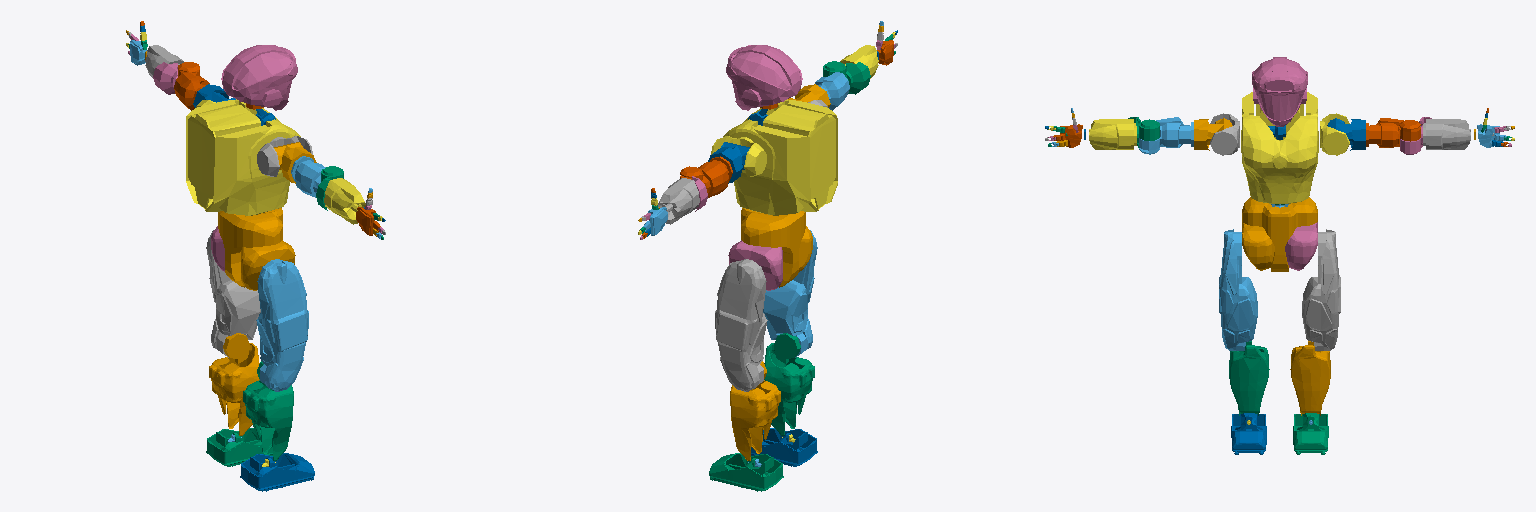
--- Render facts (derived) ---
The picture shows the robot from 3 angles, left to right: view 1: azimuth 30°, elevation 25°; view 2: azimuth 150°, elevation 25°; view 3: azimuth 270°, elevation 25°; orthographic projection.
Robot: valkyrie — 84 links, 83 joints (32 revolute, 1 continuous, 50 fixed); root link pelvis; default pose: every joint at zero.
Links seen in each view (by area): view 1: torso, rightHipPitchLink, upperNeckPitchLink, leftKneePitchLink, leftHipPitchLink, rightKneePitchLink, pelvis, rightFoot, leftFoot, rightHipRollLink, rightForearmLink, leftShoulderYawLink (+5 smaller); view 2: torso, leftHipPitchLink, upperNeckPitchLink, rightKneePitchLink, rightHipPitchLink, leftKneePitchLink, pelvis, leftFoot, rightFoot, leftHipRollLink, leftForearmLink, leftShoulderYawLink (+5 smaller); view 3: torso, rightHipPitchLink, leftHipPitchLink, upperNeckPitchLink, pelvis, rightKneePitchLink, leftKneePitchLink, leftForearmLink, rightForearmLink, rightFoot, leftFoot, leftShoulderYawLink (+7 smaller).
Link boxes in pixels (left/top/right/bottom): torso: left=186, top=99, right=300, bottom=215; rightHipPitchLink: left=256, top=259, right=308, bottom=391; upperNeckPitchLink: left=221, top=45, right=297, bottom=110; leftKneePitchLink: left=209, top=333, right=259, bottom=435; leftHipPitchLink: left=206, top=230, right=260, bottom=357; rightKneePitchLink: left=243, top=361, right=293, bottom=460; pelvis: left=218, top=208, right=282, bottom=287; rightFoot: left=240, top=453, right=314, bottom=491; leftFoot: left=206, top=428, right=272, bottom=466; rightHipRollLink: left=241, top=240, right=295, bottom=290; rightForearmLink: left=324, top=178, right=365, bottom=224; leftShoulderYawLink: left=174, top=62, right=209, bottom=110; torso: left=723, top=99, right=837, bottom=215; leftHipPitchLink: left=715, top=259, right=767, bottom=391; upperNeckPitchLink: left=726, top=45, right=802, bottom=110; rightKneePitchLink: left=764, top=333, right=814, bottom=435; rightHipPitchLink: left=763, top=230, right=817, bottom=357; leftKneePitchLink: left=730, top=361, right=780, bottom=460; pelvis: left=741, top=208, right=805, bottom=287; leftFoot: left=709, top=453, right=783, bottom=491; rightFoot: left=751, top=428, right=817, bottom=466; leftHipRollLink: left=728, top=240, right=782, bottom=290; leftForearmLink: left=658, top=178, right=699, bottom=224; leftShoulderYawLink: left=680, top=156, right=732, bottom=197; torso: left=1241, top=92, right=1318, bottom=203; rightHipPitchLink: left=1219, top=229, right=1257, bottom=350; leftHipPitchLink: left=1302, top=229, right=1340, bottom=350; upperNeckPitchLink: left=1252, top=57, right=1307, bottom=126; pelvis: left=1242, top=197, right=1317, bottom=271; rightKneePitchLink: left=1229, top=341, right=1269, bottom=415; leftKneePitchLink: left=1290, top=341, right=1330, bottom=415; leftForearmLink: left=1423, top=119, right=1470, bottom=149; rightForearmLink: left=1089, top=119, right=1136, bottom=149; rightFoot: left=1231, top=413, right=1266, bottom=454; leftFoot: left=1293, top=413, right=1328, bottom=454; leftShoulderYawLink: left=1366, top=118, right=1420, bottom=147.
Size in the robot's own frame: 0.4375 by 2.09 by 1.88 metres.
60 mesh visuals loaded from 58 distinct referenced files (58 Collada DAE).

robot.urdf — valkyrie:
<?xml version="1.0" ?>
<!-- =================================================================================== -->
<!-- |    This document was autogenerated by xacro from valkyrie_sim.xacro             | -->
<!-- |    EDITING THIS FILE BY HAND IS NOT RECOMMENDED                                 | -->
<!-- =================================================================================== -->
<robot name="valkyrie" xmlns:xacro="http://ros.org/wiki/xacro">
  <!--Yaw-->
  <!--pitch-->
  <!--roll-->
  <!--pitch-->
  <!--roll-->
  <!--Yaw-->
  <!--pitch-->
  <!--roll-->
  <!--pitch-->
  <!--roll-->
  <!--Yaw-->
  <!--pitch-->
  <!--roll-->
  <!--pitch-->
  <!--roll-->
  <!--Yaw-->
  <!--pitch-->
  <!--roll-->
  <!--pitch-->
  <!--roll-->
  <gazebo>
    <plugin filename="libval_gazebo.so" name="SharedMemorySimInterfacePlugin">
      <robotNamespace>/val</robotNamespace>
    </plugin>
  </gazebo>
  <link name="pelvis">
    <inertial>
      <mass value="8.22"/>
      <origin rpy="0 0 0" xyz="-0.00532 -0.003512 -0.0036"/>
      <inertia ixx="0.11866378" ixy="-0.000143482" ixz="0.003271293" iyy="0.097963425" iyz="0.002159545" izz="0.083854638"/>
    </inertial>
    <visual>
      <geometry>
        <mesh filename="model/meshes/pelvis/pelvis.dae"/>
      </geometry>
      <origin rpy="0.0 0.0 0.0" xyz="0.0 0.0 0.0"/>
    </visual>
    <collision>
      <geometry>
        <mesh filename="model/meshes/pelvis/pelvis.dae"/>
      </geometry>
      <origin rpy="0 0 0" xyz="0 0 0"/>
    </collision>
  </link>
  <link name="torsoYawLink">
    <inertial>
      <mass value="0.5"/>
      <origin rpy="0 0 0" xyz="0.000000 0.000000 -0.010000"/>
      <inertia ixx="0.000608427" ixy="-1.172e-06" ixz="1.647e-06" iyy="0.000620328" iyz="-2.33e-07" izz="0.001078108"/>
    </inertial>
    <visual>
      <geometry>
        <mesh filename="model/meshes/torso/torsoyaw.dae"/>
      </geometry>
      <origin rpy="0.0 0.0 0.0" xyz="0.0 0.0 0.0"/>
    </visual>
    <collision>
      <geometry>
        <mesh filename="model/meshes/torso/torsoyaw.dae"/>
      </geometry>
      <origin rpy="0 0 0" xyz="0 0 0"/>
    </collision>
  </link>
  <link name="torsoPitchLink">
    <inertial>
      <mass value="0.1"/>
      <origin rpy="0 0 0" xyz="0.000000 0.000000  0.005000"/>
      <inertia ixx="3.032e-05" ixy="0.0" ixz="-1.145e-06" iyy="2.1274e-05" iyz="0.0" izz="2.8285e-05"/>
    </inertial>
    <visual>
      <geometry>
        <mesh filename="model/meshes/torso/torsopitch.dae"/>
      </geometry>
      <origin rpy="0.0 0.0 0.0" xyz="0.0 0.0 0.0"/>
    </visual>
    <collision>
      <geometry>
        <mesh filename="model/meshes/torso/torsopitch.dae"/>
      </geometry>
      <origin rpy="0 0 0" xyz="0 0 0"/>
    </collision>
  </link>
  <link name="torso">
    <inertial>
      <mass value="39.47"/>
      <origin rpy="0 0 0" xyz="-0.095548 -0.003337 0.243098"/>
      <inertia ixx="0.87326933" ixy="9.9563e-05" ixz="0.061345211" iyy="1.0108485" iyz="0.00181849" izz="0.77839801"/>
    </inertial>
    <visual>
      <geometry>
        <mesh filename="model/meshes/torso/torso.dae"/>
      </geometry>
      <origin rpy="0.0 0.0 0.0" xyz="0.0 0.0 0.0"/>
    </visual>
    <collision>
      <geometry>
        <mesh filename="model/meshes/torso/torso.dae"/>
      </geometry>
      <origin rpy="0 0 0" xyz="0 0 0"/>
    </collision>
  </link>
  <joint name="torsoYaw" type="revolute">
    <origin rpy="0.0 0.0 0.0" xyz="0.0 0.0 0.0"/>
    <axis xyz="0 0 1"/>
    <parent link="pelvis"/>
    <child link="torsoYawLink"/>
    <limit effort="190" lower="-1.329" upper="1.181" velocity="5.89"/>
    <controller_gains Kd="0.0" Ki="0.0" Kp="0.0"/>
    <dynamics damping="0.1" friction="0.0"/>
  </joint>
  <gazebo reference="torsoYaw">
    <provideFeedback>1</provideFeedback>
    <implicitSpringDamper>1</implicitSpringDamper>
  </gazebo>
  <joint name="torsoPitch" type="revolute">
    <origin rpy="0.0 0.0 0.0" xyz="0.04191 0.0 0.0"/>
    <axis xyz="0 1 0"/>
    <parent link="torsoYawLink"/>
    <child link="torsoPitchLink"/>
    <limit effort="150" lower="-0.13" upper="0.666" velocity="9"/>
    <controller_gains Kd="0.0" Ki="0.0" Kp="0.0"/>
    <dynamics damping="0.1" friction="0.0"/>
  </joint>
  <gazebo reference="torsoPitch">
    <provideFeedback>1</provideFeedback>
    <implicitSpringDamper>1</implicitSpringDamper>
  </gazebo>
  <joint name="torsoRoll" type="revolute">
    <origin rpy="0.0 0.0 0.0" xyz="0.0 0.0 0.0203"/>
    <axis xyz="1 0 0"/>
    <parent link="torsoPitchLink"/>
    <child link="torso"/>
    <limit effort="150" lower="-0.23" upper="0.255" velocity="9"/>
    <controller_gains Kd="0.0" Ki="0.0" Kp="0.0"/>
    <dynamics damping="0.1" friction="0.0"/>
  </joint>
  <gazebo reference="torsoRoll">
    <provideFeedback>1</provideFeedback>
    <implicitSpringDamper>1</implicitSpringDamper>
  </gazebo>
  <link name="lowerNeckPitchLink">
    <inertial>
      <mass value="1.05"/>
      <origin rpy="0 0 0" xyz="-0.020000 0.000000  0.040000"/>
      <inertia ixx="0.001470716" ixy="-0.000126021" ixz="0.000632521" iyy="0.001851919" iyz="0.000243012" izz="0.000832117"/>
    </inertial>
    <visual>
      <geometry>
        <mesh filename="model/meshes/head/neckj1.dae"/>
      </geometry>
      <origin rpy="0.0 0.0 0.0" xyz="0.0 0.0 0.0"/>
    </visual>
    <collision>
      <geometry>
        <mesh filename="model/meshes/head/neckj1.dae"/>
      </geometry>
      <origin rpy="0 0 0" xyz="0 0 0"/>
    </collision>
  </link>
  <link name="neckYawLink">
    <inertial>
      <mass value="1.4"/>
      <origin rpy="0 0 0" xyz="-0.030000  -0.010000 0.150000"/>
      <inertia ixx="0.001997698" ixy="-0.000180062" ixz="0.000723677" iyy="0.002919928" iyz="0.000246467" izz="0.002119751"/>
    </inertial>
    <visual>
      <geometry>
        <mesh filename="model/meshes/head/neckj2.dae"/>
      </geometry>
      <origin rpy="0.0 0.0 0.0" xyz="0.0 0.0 0.0"/>
    </visual>
    <collision>
      <geometry>
        <mesh filename="model/meshes/head/neckj2.dae"/>
      </geometry>
      <origin rpy="0 0 0" xyz="0 0 0"/>
    </collision>
  </link>
  <link name="upperNeckPitchLink">
    <inertial>
      <mass value="3.89"/>
      <origin rpy="0 0 0" xyz="0.100912 0.005783 0.034787"/>
      <inertia ixx="0.039847525" ixy="-0.000470418" ixz="-0.002829842" iyy="0.041418564" iyz="-0.000782564" izz="0.036841236"/>
    </inertial>
    <visual>
      <geometry>
        <mesh filename="model/meshes/head/head_multisense.dae"/>
      </geometry>
      <origin rpy="0.0 0.0 0.0" xyz="0.0 0.0 0.0"/>
    </visual>
    <collision>
      <geometry>
        <mesh filename="model/meshes/head/head_multisense.dae"/>
      </geometry>
      <origin rpy="0 0 0" xyz="0 0 0"/>
    </collision>
  </link>
  <joint name="lowerNeckPitch" type="revolute">
    <origin rpy="0.0 0.0 0.0" xyz="0.0203518 0.0 0.33845"/>
    <axis xyz="0 1 0"/>
    <parent link="torso"/>
    <child link="lowerNeckPitchLink"/>
    <limit effort="26" lower="0" upper="1.162" velocity="5"/>
    <controller_gains Kd="400" Ki="0.0" Kp="400"/>
    <dynamics damping="0.1" friction="0.0"/>
  </joint>
  <gazebo reference="lowerNeckPitch">
    <provideFeedback>1</provideFeedback>
    <implicitSpringDamper>1</implicitSpringDamper>
  </gazebo>
  <joint name="neckYaw" type="revolute">
    <origin rpy="0.0 0.0 0.0" xyz="-0.051924 0.0 0.0"/>
    <axis xyz="0 0 1"/>
    <parent link="lowerNeckPitchLink"/>
    <child link="neckYawLink"/>
    <limit effort="26" lower="-1.04719755" upper="1.04719755" velocity="5"/>
    <controller_gains Kd="400" Ki="0.0" Kp="400"/>
    <dynamics damping="0.1" friction="0.0"/>
  </joint>
  <gazebo reference="neckYaw">
    <provideFeedback>1</provideFeedback>
    <implicitSpringDamper>1</implicitSpringDamper>
  </gazebo>
  <joint name="upperNeckPitch" type="revolute">
    <origin rpy="0.0 0.0 0.0" xyz="-0.06 0 0.195997"/>
    <axis xyz="0 1 0"/>
    <parent link="neckYawLink"/>
    <child link="upperNeckPitchLink"/>
    <limit effort="26" lower="-0.872" upper="0.0" velocity="5"/>
    <controller_gains Kd="400" Ki="0.0" Kp="400"/>
    <dynamics damping="0.1" friction="0.0"/>
  </joint>
  <gazebo reference="upperNeckPitch">
    <provideFeedback>1</provideFeedback>
    <implicitSpringDamper>1</implicitSpringDamper>
  </gazebo>
  <link name="rightShoulderPitchLink">
    <inertial>
      <mass value="2.65"/>
      <origin rpy="0 0 0" xyz="0.012 -0.251 0.000000"/>
      <inertia ixx="0.013718167" ixy="0.0" ixz="0.0" iyy="0.010502833" iyz="0.0" izz="0.014806433"/>
    </inertial>
    <visual>
      <geometry>
        <mesh filename="model/meshes/arms/aj1_right.dae"/>
      </geometry>
      <origin rpy="0.0 0.0 0.0" xyz="0.0 0.0 0.0"/>
    </visual>
    <collision>
      <geometry>
        <mesh filename="model/meshes/arms/aj1_right.dae"/>
      </geometry>
      <origin rpy="0 0 0" xyz="0 0 0"/>
    </collision>
  </link>
  <link name="rightShoulderRollLink">
    <inertial>
      <mass value="3.97"/>
      <origin rpy="0 0 0" xyz="0.008513 -0.02068 -0.001088"/>
      <inertia ixx="0.014598842" ixy="-0.00066764" ixz="3.629e-05" iyy="0.006452136" iyz="8.283e-05" izz="0.016848319"/>
    </inertial>
    <visual>
      <geometry>
        <mesh filename="model/meshes/arms/aj2_right.dae"/>
      </geometry>
      <origin rpy="0.0 0.0 0.0" xyz="0.0 0.0 0.0"/>
    </visual>
    <collision>
      <geometry>
        <mesh filename="model/meshes/arms/aj2_right.dae"/>
      </geometry>
      <origin rpy="0 0 0" xyz="0 0 0"/>
    </collision>
  </link>
  <link name="rightShoulderYawLink">
    <inertial>
      <mass value="3.085"/>
      <origin rpy="0 0 0" xyz="-0.004304 -0.209832 -0.007295"/>
      <inertia ixx="0.039355177" ixy="0.007827077" ixz="0.000753947" iyy="0.004905765" iyz="-0.002723873" izz="0.041879481"/>
    </inertial>
    <visual>
      <geometry>
        <mesh filename="model/meshes/arms/aj3_right.dae"/>
      </geometry>
      <origin rpy="0.0 0.0 0.0" xyz="0.0 0.0 0.0"/>
    </visual>
    <collision>
      <geometry>
        <mesh filename="model/meshes/arms/aj3_right.dae"/>
      </geometry>
      <origin rpy="0 0 0" xyz="0 0 0"/>
    </collision>
  </link>
  <link name="rightElbowPitchLink">
    <inertial>
      <mass value="1.83"/>
      <origin rpy="0 0 0" xyz="-0.020344 -0.014722 -0.0223"/>
      <inertia ixx="0.003314516" ixy="-0.000535099" ixz="-0.000728077" iyy="0.003505669" iyz="-0.000423865" izz="0.003011283"/>
    </inertial>
    <visual>
      <geometry>
        <mesh filename="model/meshes/arms/aj4_right.dae"/>
      </geometry>
      <origin rpy="0.0 0.0 0.0" xyz="0.0 0.0 0.0"/>
    </visual>
    <collision>
      <geometry>
        <mesh filename="model/meshes/arms/aj4_right.dae"/>
      </geometry>
      <origin rpy="0 0 0" xyz="0 0 0"/>
    </collision>
  </link>
  <joint name="rightShoulderPitch" type="revolute">
    <origin rpy="0.0 0.0 0.0" xyz="-0.0316 0.0 0.2984"/>
    <axis xyz="0 1 0"/>
    <parent link="torso"/>
    <child link="rightShoulderPitchLink"/>
    <limit effort="190" lower="-2.85" upper="2.0" velocity="5.89"/>
    <controller_gains Kd="0.0" Ki="0.0" Kp="0.0"/>
    <dynamics damping="0.1" friction="0.0"/>
  </joint>
  <gazebo reference="rightShoulderPitch">
    <provideFeedback>1</provideFeedback>
    <implicitSpringDamper>1</implicitSpringDamper>
  </gazebo>
  <joint name="rightShoulderRoll" type="revolute">
    <origin rpy="0.0 0.0 0.0" xyz="0.0 -0.2499 0.0"/>
    <axis xyz="1 0 0"/>
    <parent link="rightShoulderPitchLink"/>
    <child link="rightShoulderRollLink"/>
    <limit effort="190" lower="-1.266" upper="1.519" velocity="5.89"/>
    <controller_gains Kd="0.0" Ki="0.0" Kp="0.0"/>
    <dynamics damping="0.1" friction="0.0"/>
  </joint>
  <gazebo reference="rightShoulderRoll">
    <provideFeedback>1</provideFeedback>
    <implicitSpringDamper>1</implicitSpringDamper>
  </gazebo>
  <joint name="rightShoulderYaw" type="revolute">
    <origin rpy="0.0 0.0 0.0" xyz="0.0 0.0 0.0"/>
    <axis xyz="0 1 0"/>
    <parent link="rightShoulderRollLink"/>
    <child link="rightShoulderYawLink"/>
    <limit effort="65" lower="-3.1" upper="2.18" velocity="11.5"/>
    <controller_gains Kd="0.0" Ki="0.0" Kp="0.0"/>
    <dynamics damping="0.1" friction="0.0"/>
  </joint>
  <gazebo reference="rightShoulderYaw">
    <provideFeedback>1</provideFeedback>
    <implicitSpringDamper>1</implicitSpringDamper>
  </gazebo>
  <joint name="rightElbowPitch" type="revolute">
    <origin rpy="0.0 0.0 0.0" xyz="0.0254 -0.33 0.0"/>
    <axis xyz="0 0 1"/>
    <parent link="rightShoulderYawLink"/>
    <child link="rightElbowPitchLink"/>
    <limit effort="65" lower="-0.12" upper="2.174" velocity="11.5"/>
    <controller_gains Kd="0.0" Ki="0.0" Kp="0.0"/>
    <dynamics damping="0.1" friction="0.0"/>
  </joint>
  <gazebo reference="rightElbowPitch">
    <provideFeedback>1</provideFeedback>
    <implicitSpringDamper>1</implicitSpringDamper>
  </gazebo>
  <link name="rightForearmLink">
    <inertial>
      <mass value="2.476"/>
      <origin rpy="0 0 0" xyz="0.015000 -0.13 0.019564"/>
      <inertia ixx="0.01175543" ixy="-0.001300853" ixz="-0.000727141" iyy="0.005071567" iyz="-0.001695416" izz="0.011365657"/>
    </inertial>
    <visual>
      <geometry>
        <mesh filename="model/meshes/arms/aj5_right.dae"/>
      </geometry>
      <origin rpy="0.0 0.0 0.0" xyz="0.0 0.0 0.0"/>
    </visual>
    <collision>
      <geometry>
        <mesh filename="model/meshes/arms/aj5_right.dae"/>
      </geometry>
      <origin rpy="0 0 0" xyz="0 0 0"/>
    </collision>
  </link>
  <link name="rightWristRollLink">
    <inertial>
      <mass value="0.14"/>
      <origin rpy="0 0 0" xyz="0 -0.0 0"/>
      <inertia ixx="3.0251e-05" ixy="-1.25e-07" ixz="-3.6e-08" iyy="3.772e-05" iyz="0.0" izz="9.395e-06"/>
    </inertial>
    <visual>
      <geometry>
        <mesh filename="model/meshes/arms/aj6_right.dae"/>
      </geometry>
      <origin rpy="0.0 0.0 0.0" xyz="0.0 0.0 0.0"/>
    </visual>
    <collision>
      <geometry>
        <mesh filename="model/meshes/arms/aj6_right.dae"/>
      </geometry>
      <origin rpy="0 0 0" xyz="0 0 0"/>
    </collision>
  </link>
  <link name="rightPalm">
    <inertial>
      <mass value="0.712"/>
      <origin rpy="0 0 0" xyz="0.002954 -0.052034 -0.000236"/>
      <inertia ixx="0.000943493" ixy="3.4393e-05" ixz="-3.8828e-05" iyy="0.000711024" iyz="2.3429e-05" izz="0.000610199"/>
    </inertial>
    <visual>
      <geometry>
        <mesh filename="model/meshes/arms/palm_right.dae"/>
      </geometry>
      <origin rpy="0.0 0.0 0.0" xyz="0.0 0.0 0.0"/>
    </visual>
    <collision>
      <geometry>
        <mesh filename="model/meshes/arms/palm_right.dae"/>
      </geometry>
      <origin rpy="0 0 0" xyz="0 0 0"/>
    </collision>
  </link>
  <joint name="rightForearmYaw" type="revolute">
    <origin rpy="0.0 0.0 0.0" xyz="-0.0254 0 0"/>
    <axis xyz="0 1 0"/>
    <parent link="rightElbowPitchLink"/>
    <child link="rightForearmLink"/>
    <limit effort="26" lower="-2.019" upper="3.14" velocity="5"/>
    <controller_gains Kd="0" Ki="0.0" Kp="0.0"/>
    <dynamics damping="0.1" friction="0.0"/>
  </joint>
  <gazebo reference="rightForearmYaw">
    <provideFeedback>1</provideFeedback>
    <implicitSpringDamper>1</implicitSpringDamper>
  </gazebo>
  <joint name="rightWristRoll" type="revolute">
    <origin rpy="0.0 0.0 0.0" xyz="0.0 -0.2871 0.0"/>
    <axis xyz="1 0 0"/>
    <parent link="rightForearmLink"/>
    <child link="rightWristRollLink"/>
    <limit effort="14" lower="-0.625" upper="0.62" velocity="1"/>
    <controller_gains Kd="400" Ki="0.0" Kp="20000"/>
    <dynamics damping="0.1" friction="0.0"/>
  </joint>
  <gazebo reference="rightWristRoll">
    <provideFeedback>1</provideFeedback>
    <implicitSpringDamper>1</implicitSpringDamper>
  </gazebo>
  <joint name="rightWristPitch" type="revolute">
    <origin rpy="0.0 0.0 0.0" xyz="0.0 0.0 0.0"/>
    <axis xyz="0 0 1"/>
    <parent link="rightWristRollLink"/>
    <child link="rightPalm"/>
    <limit effort="14" lower="-0.49" upper="0.36" velocity="1"/>
    <controller_gains Kd="400" Ki="0.0" Kp="20000"/>
    <dynamics damping="0.1" friction="0.0"/>
  </joint>
  <gazebo reference="rightWristPitch">
    <provideFeedback>1</provideFeedback>
    <implicitSpringDamper>1</implicitSpringDamper>
  </gazebo>
  <link name="rightThumbRollLink">
    <inertial>
      <mass value="0.017"/>
      <origin rpy="0 0 0" xyz="0 -0.0 0.01"/>
      <inertia ixx="2.7778767e-06" ixy="5.6718533e-09" ixz="-9.5523207e-08" iyy="3.5462642e-06" iyz="3.663718e-08" izz="1.3553297e-06"/>
    </inertial>
    <visual>
      <geometry>
        <mesh filename="model/meshes/fingers/thumbj1_right.dae"/>
      </geometry>
      <origin rpy="0.0 0.0 0.0" xyz="0.0 0.0 0.0"/>
    </visual>
    <collision>
      <geometry>
        <mesh filename="model/meshes/fingers/thumbj1_right.dae"/>
      </geometry>
      <origin rpy="0 0 0" xyz="0 0 0"/>
    </collision>
  </link>
  <link name="rightThumbPitch1Link">
    <inertial>
      <mass value="0.02"/>
      <origin rpy="0 0 0" xyz="0.0 -0.005 0.02"/>
      <inertia ixx="4.239e-06" ixy="0.0" ixz="-0.0" iyy="4.582e-06" iyz="0.0" izz="1.47e-06"/>
    </inertial>
    <visual>
      <geometry>
        <mesh filename="model/meshes/fingers/thumbj2_right.dae"/>
      </geometry>
      <origin rpy="0.0 0.0 0.0" xyz="0.0 0.0 0.0"/>
    </visual>
    <collision>
      <geometry>
        <mesh filename="model/meshes/fingers/thumbj2_right.dae"/>
      </geometry>
      <origin rpy="0 0 0" xyz="0 0 0"/>
    </collision>
  </link>
  <link name="rightThumbPitch2Link">
    <inertial>
      <mass value="0.013"/>
      <origin rpy="0 0 0" xyz="0 -0.004 0.017"/>
      <inertia ixx="1.266e-06" ixy="0.0" ixz="-0.0" iyy="1.503e-06" iyz="-0.0" izz="6.99e-07"/>
    </inertial>
    <visual>
      <geometry>
        <mesh filename="model/meshes/fingers/thumbj3_right.dae"/>
      </geometry>
      <origin rpy="0.0 0.0 0.0" xyz="0.0 0.0 0.0"/>
    </visual>
    <collision>
      <geometry>
        <mesh filename="model/meshes/fingers/thumbj3_right.dae"/>
      </geometry>
      <origin rpy="0 0 0" xyz="0 0 0"/>
    </collision>
  </link>
  <link name="rightThumbPitch3Link">
    <inertial>
      <mass value="0.006"/>
      <origin rpy="0 0 0" xyz="0 -0.004 0.01"/>
      <inertia ixx="3.22e-07" ixy="0.0" ixz="0.0" iyy="4.06e-07" iyz="0.0" izz="2.1e-07"/>
    </inertial>
    <visual>
      <geometry>
        <mesh filename="model/meshes/fingers/thumbj4_right.dae"/>
      </geometry>
      <origin rpy="0.0 0.0 0.0" xyz="0.0 0.0 0.0"/>
    </visual>
    <collision>
      <geometry>
        <mesh filename="model/meshes/fingers/thumbj4_right.dae"/>
      </geometry>
      <origin rpy="0 0 0" xyz="0 0 0"/>
    </collision>
  </link>
  <joint name="rightThumbRoll" type="fixed">
    <origin rpy="0.3491 0.0 0.0" xyz="0.0049 -0.0351 0.0228"/>
    <axis xyz="0 0 1"/>
    <parent link="rightPalm"/>
    <child link="rightThumbRollLink"/>
  </joint>
  <gazebo reference="rightThumbRoll">
    <implicitSpringDamper>1</implicitSpringDamper>
  </gazebo>
  <joint name="rightThumbPitch1" type="fixed">
    <origin rpy="-0.3491 0.0 0.0" xyz="0.0 0.0 0.0229"/>
    <axis xyz="0 0 1"/>
    <parent link="rightThumbRollLink"/>
    <child link="rightThumbPitch1Link"/>
  </joint>
  <gazebo reference="rightThumbPitch1">
    <implicitSpringDamper>1</implicitSpringDamper>
  </gazebo>
  <joint name="rightThumbPitch2" type="fixed">
    <origin rpy="0.0 0.0 0.0" xyz="0.0 -0.0066 0.0375"/>
    <axis xyz="0 0 1"/>
    <parent link="rightThumbPitch1Link"/>
    <child link="rightThumbPitch2Link"/>
  </joint>
  <gazebo reference="rightThumbPitch2">
    <implicitSpringDamper>1</implicitSpringDamper>
  </gazebo>
  <joint name="rightThumbPitch3" type="fixed">
    <origin rpy="0.0 0.0 0.0" xyz="0.0 -0.0049 0.0275"/>
    <axis xyz="0 0 1"/>
    <parent link="rightThumbPitch2Link"/>
    <child link="rightThumbPitch3Link"/>
  </joint>
  <gazebo reference="rightThumbPitch3">
    <implicitSpringDamper>1</implicitSpringDamper>
  </gazebo>
  <link name="rightIndexFingerPitch1Link">
    <inertial>
      <mass value="0.02"/>
      <origin rpy="0 0 0" xyz="0 -0.02 0"/>
      <inertia ixx="4.232e-06" ixy="-6e-08" ixz="-8e-09" iyy="1.215e-06" iyz="-7e-09" izz="3.892e-06"/>
    </inertial>
    <visual>
      <geometry>
        <mesh filename="model/meshes/fingers/indexj1_right.dae"/>
      </geometry>
      <origin rpy="0.0 0.0 0.0" xyz="0.0 0.0 0.0"/>
    </visual>
    <collision>
      <geometry>
        <mesh filename="model/meshes/fingers/indexj1_right.dae"/>
      </geometry>
      <origin rpy="0 0 0" xyz="0 0 0"/>
    </collision>
  </link>
  <link name="rightIndexFingerPitch2Link">
    <inertial>
      <mass value="0.018"/>
      <origin rpy="0 0 0" xyz="0 -0.013 0"/>
      <inertia ixx="1.562e-06" ixy="-1.7e-08" ixz="-1.3e-08" iyy="7.22e-07" iyz="3.1e-08" izz="1.255e-06"/>
    </inertial>
    <visual>
      <geometry>
        <mesh filename="model/meshes/fingers/indexj2_right.dae"/>
      </geometry>
      <origin rpy="0.0 0.0 0.0" xyz="0.0 0.0 0.0"/>
    </visual>
    <collision>
      <geometry>
        <mesh filename="model/meshes/fingers/indexj2_right.dae"/>
      </geometry>
      <origin rpy="0 0 0" xyz="0 0 0"/>
    </collision>
  </link>
  <link name="rightIndexFingerPitch3Link">
    <inertial>
      <mass value="0.01"/>
      <origin rpy="0 0 0" xyz="0 -0.01 0"/>
      <inertia ixx="6.02e-07" ixy="-2.4e-08" ixz="0.0" iyy="2.09e-07" iyz="1.7e-08" izz="5.02e-07"/>
    </inertial>
    <visual>
      <geometry>
        <mesh filename="model/meshes/fingers/indexj3_right.dae"/>
      </geometry>
      <origin rpy="0.0 0.0 0.0" xyz="0.0 0.0 0.0"/>
    </visual>
    <collision>
      <geometry>
        <mesh filename="model/meshes/fingers/indexj3_right.dae"/>
      </geometry>
      <origin rpy="0 0 0" xyz="0 0 0"/>
    </collision>
  </link>
  <joint name="rightIndexFingerPitch1" type="fixed">
    <origin rpy="-0.1745 0.0 0.0" xyz="0.0022 -0.0976 0.0235"/>
    <axis xyz="0 0 1"/>
    <parent link="rightPalm"/>
    <child link="rightIndexFingerPitch1Link"/>
  </joint>
  <gazebo reference="rightIndexFingerPitch1">
    <implicitSpringDamper>1</implicitSpringDamper>
  </gazebo>
  <joint name="rightIndexFingerPitch2" type="fixed">
    <origin rpy="0.0 0.0 0.0" xyz="0.0 -0.0381 0.0"/>
    <axis xyz="0 0 1"/>
    <parent link="rightIndexFingerPitch1Link"/>
    <child link="rightIndexFingerPitch2Link"/>
  </joint>
  <gazebo reference="rightIndexFingerPitch2">
    <implicitSpringDamper>1</implicitSpringDamper>
  </gazebo>
  <joint name="rightIndexFingerPitch3" type="fixed">
    <origin rpy="0.0 0.0 0.0" xyz="0.0 -0.0229 0"/>
    <axis xyz="0 0 1"/>
    <parent link="rightIndexFingerPitch2Link"/>
    <child link="rightIndexFingerPitch3Link"/>
  </joint>
  <gazebo reference="rightIndexFingerPitch3">
    <implicitSpringDamper>1</implicitSpringDamper>
  </gazebo>
  <link name="rightMiddleFingerPitch1Link">
    <inertial>
      <mass value="0.02"/>
      <origin rpy="0 0 0" xyz="0 -0.02 0"/>
      <inertia ixx="5.148e-06" ixy="-4.2e-08" ixz="-1.1e-08" iyy="1.322e-06" iyz="-4e-09" izz="4.592e-06"/>
    </inertial>
    <visual>
      <geometry>
        <mesh filename="model/meshes/fingers/middlej1_right.dae"/>
      </geometry>
      <origin rpy="0.0 0.0 0.0" xyz="0.0 0.0 0.0"/>
    </visual>
    <collision>
      <geometry>
        <mesh filename="model/meshes/fingers/middlej1_right.dae"/>
      </geometry>
      <origin rpy="0 0 0" xyz="0 0 0"/>
    </collision>
  </link>
  <link name="rightMiddleFingerPitch2Link">
    <inertial>
      <mass value="0.011"/>
      <origin rpy="0 0 0" xyz="0 -0.013 0"/>
      <inertia ixx="1.97e-06" ixy="3.4e-08" ixz="-1.1e-08" iyy="5.54e-07" iyz="-7.8e-08" izz="2.272e-06"/>
    </inertial>
    <visual>
      <geometry>
        <mesh filename="model/meshes/fingers/middlej2_right.dae"/>
      </geometry>
      <origin rpy="0.0 0.0 0.0" xyz="0.0 0.0 0.0"/>
    </visual>
    <collision>
      <geometry>
        <mesh filename="model/meshes/fingers/middlej2_right.dae"/>
      </geometry>
      <origin rpy="0 0 0" xyz="0 0 0"/>
    </collision>
  </link>
  <link name="rightMiddleFingerPitch3Link">
    <inertial>
      <mass value="0.006"/>
      <origin rpy="0 0 0" xyz="0 -0.01 0"/>
      <inertia ixx="3.96e-07" ixy="-9e-09" ixz="-1e-09" iyy="1.6e-07" iyz="1.6e-08" izz="3.03e-07"/>
    </inertial>
    <visual>
      <geometry>
        <mesh filename="model/meshes/fingers/middlej3_right.dae"/>
      </geometry>
      <origin rpy="0.0 0.0 0.0" xyz="0.0 0.0 0.0"/>
    </visual>
    <collision>
      <geometry>
        <mesh filename="model/meshes/fingers/middlej3_right.dae"/>
      </geometry>
      <origin rpy="0 0 0" xyz="0 0 0"/>
    </collision>
  </link>
  <joint name="rightMiddleFingerPitch1" type="fixed">
    <origin rpy="0.1222 0.0 0.0" xyz="0.0022 -0.097 -0.0119"/>
    <axis xyz="0 0 1"/>
    <parent link="rightPalm"/>
    <child link="rightMiddleFingerPitch1Link"/>
  </joint>
  <gazebo reference="rightMiddleFingerPitch1">
    <implicitSpringDamper>1</implicitSpringDamper>
  </gazebo>
  <joint name="rightMiddleFingerPitch2" type="fixed">
    <origin rpy="0.0 0.0 0.0" xyz="0.0 -0.0381 0.0"/>
    <axis xyz="0 0 1"/>
    <parent link="rightMiddleFingerPitch1Link"/>
    <child link="rightMiddleFingerPitch2Link"/>
  </joint>
  <gazebo reference="rightMiddleFingerPitch2">
    <implicitSpringDamper>1</implicitSpringDamper>
  </gazebo>
  <joint name="rightMiddleFingerPitch3" type="fixed">
    <origin rpy="0.0 0.0 0.0" xyz="0.0 -0.0229 0.0"/>
    <axis xyz="0 0 1"/>
    <parent link="rightMiddleFingerPitch2Link"/>
    <child link="rightMiddleFingerPitch3Link"/>
  </joint>
  <gazebo reference="rightMiddleFingerPitch3">
    <implicitSpringDamper>1</implicitSpringDamper>
  </gazebo>
  <link name="rightPinkyPitch1Link">
    <inertial>
      <mass value="0.02"/>
      <origin rpy="0 0 0" xyz="0 -0.02 0"/>
      <inertia ixx="5.148e-06" ixy="-4.2e-08" ixz="-1.1e-08" iyy="1.322e-06" iyz="-4e-09" izz="4.592e-06"/>
    </inertial>
    <visual>
      <geometry>
        <mesh filename="model/meshes/fingers/pinkyj1_right.dae"/>
      </geometry>
      <origin rpy="0.0 0.0 0.0" xyz="0.0 0.0 0.0"/>
    </visual>
    <collision>
      <geometry>
        <mesh filename="model/meshes/fingers/pinkyj1_right.dae"/>
      </geometry>
      <origin rpy="0 0 0" xyz="0 0 0"/>
    </collision>
  </link>
  <link name="rightPinkyPitch2Link">
    <inertial>
      <mass value="0.011"/>
      <origin rpy="0 0 0" xyz="0 -0.013 0"/>
      <inertia ixx="1.97e-06" ixy="3.4e-08" ixz="-1.1e-08" iyy="5.54e-07" iyz="-7.8e-08" izz="2.272e-06"/>
    </inertial>
    <visual>
      <geometry>
        <mesh filename="model/meshes/fingers/pinkyj2_right.dae"/>
      </geometry>
      <origin rpy="0.0 0.0 0.0" xyz="0.0 0.0 0.0"/>
    </visual>
    <collision>
      <geometry>
        <mesh filename="model/meshes/fingers/pinkyj2_right.dae"/>
      </geometry>
      <origin rpy="0 0 0" xyz="0 0 0"/>
    </collision>
  </link>
  <link name="rightPinkyPitch3Link">
    <inertial>
      <mass value="0.006"/>
      <origin rpy="0 0 0" xyz="0 -0.01 0"/>
      <inertia ixx="3.96e-07" ixy="-9e-09" ixz="-1e-09" iyy="1.6e-07" iyz="1.6e-08" izz="3.03e-07"/>
    </inertial>
    <visual>
      <geometry>
        <mesh filename="model/meshes/fingers/pinkyj3_right.dae"/>
      </geometry>
      <origin rpy="0.0 0.0 0.0" xyz="0.0 0.0 0.0"/>
    </visual>
    <collision>
      <geometry>
        <mesh filename="model/meshes/fingers/pinkyj3_right.dae"/>
      </geometry>
      <origin rpy="0 0 0" xyz="0 0 0"/>
    </collision>
  </link>
  <joint name="rightPinkyPitch1" type="fixed">
    <origin rpy="0.1222 0.0 0.0" xyz="0.0022 -0.0838 -0.041"/>
    <axis xyz="0 0 1"/>
    <parent link="rightPalm"/>
    <child link="rightPinkyPitch1Link"/>
  </joint>
  <gazebo reference="rightPinkyPitch1">
    <implicitSpringDamper>1</implicitSpringDamper>
  </gazebo>
  <joint name="rightPinkyPitch2" type="fixed">
    <origin rpy="0.0 0.0 0.0" xyz="0.0 -0.0381 0.0"/>
    <axis xyz="0 0 1"/>
    <parent link="rightPinkyPitch1Link"/>
    <child link="rightPinkyPitch2Link"/>
  </joint>
  <gazebo reference="rightPinkyPitch2">
    <implicitSpringDamper>1</implicitSpringDamper>
  </gazebo>
  <joint name="rightPinkyPitch3" type="fixed">
    <origin rpy="0.0 0.0 0.0" xyz="0.0 -0.0229 0.0"/>
    <axis xyz="0 0 1"/>
    <parent link="rightPinkyPitch2Link"/>
    <child link="rightPinkyPitch3Link"/>
  </joint>
  <gazebo reference="rightPinkyPitch3">
    <implicitSpringDamper>1</implicitSpringDamper>
  </gazebo>
  <link name="leftShoulderPitchLink">
    <inertial>
      <mass value="2.65"/>
      <origin rpy="0 0 0" xyz="-0.012 0.251 0.000000"/>
      <inertia ixx="0.013718167" ixy="0.0" ixz="0.0" iyy="0.010502833" iyz="0.0" izz="0.014806433"/>
    </inertial>
    <visual>
      <geometry>
        <mesh filename="model/meshes/arms/aj1_left.dae"/>
      </geometry>
      <origin rpy="0.0 0.0 0.0" xyz="0.0 0.0 0.0"/>
    </visual>
    <collision>
      <geometry>
        <mesh filename="model/meshes/arms/aj1_left.dae"/>
      </geometry>
      <origin rpy="0 0 0" xyz="0 0 0"/>
    </collision>
  </link>
  <link name="leftShoulderRollLink">
    <inertial>
      <mass value="3.97"/>
      <origin rpy="0 0 0" xyz="-0.008513 0.02068 -0.001088"/>
      <inertia ixx="0.014598842" ixy="-0.00066764" ixz="-3.629e-05" iyy="0.006452136" iyz="-8.283e-05" izz="0.016848319"/>
    </inertial>
    <visual>
      <geometry>
        <mesh filename="model/meshes/arms/aj2_left.dae"/>
      </geometry>
      <origin rpy="0.0 0.0 0.0" xyz="0.0 0.0 0.0"/>
    </visual>
    <collision>
      <geometry>
        <mesh filename="model/meshes/arms/aj2_left.dae"/>
      </geometry>
      <origin rpy="0 0 0" xyz="0 0 0"/>
    </collision>
  </link>
  <link name="leftShoulderYawLink">
    <inertial>
      <mass value="3.085"/>
      <origin rpy="0 0 0" xyz="-0.004304 0.209832 0.007295"/>
      <inertia ixx="0.039355177" ixy="-0.007827077" ixz="-0.000753947" iyy="0.004905765" iyz="0.002723873" izz="0.041879481"/>
    </inertial>
    <visual>
      <geometry>
        <mesh filename="model/meshes/arms/aj3_left.dae"/>
      </geometry>
      <origin rpy="0.0 0.0 0.0" xyz="0.0 0.0 0.0"/>
    </visual>
    <collision>
      <geometry>
        <mesh filename="model/meshes/arms/aj3_left.dae"/>
      </geometry>
      <origin rpy="0 0 0" xyz="0 0 0"/>
    </collision>
  </link>
  <link name="leftElbowPitchLink">
    <inertial>
      <mass value="1.83"/>
      <origin rpy="0 0 0" xyz="-0.020344 0.014722 0.0223"/>
      <inertia ixx="0.003314516" ixy="0.000535099" ixz="0.000728077" iyy="0.003505669" iyz="-0.000423865" izz="0.003011283"/>
    </inertial>
    <visual>
      <geometry>
        <mesh filename="model/meshes/arms/aj4_left.dae"/>
      </geometry>
      <origin rpy="0.0 0.0 0.0" xyz="0.0 0.0 0.0"/>
    </visual>
    <collision>
      <geometry>
        <mesh filename="model/meshes/arms/aj4_left.dae"/>
      </geometry>
      <origin rpy="0 0 0" xyz="0 0 0"/>
    </collision>
  </link>
  <joint name="leftShoulderPitch" type="revolute">
    <origin rpy="0.0 0.0 0.0" xyz="-0.0316 0.0 0.2984"/>
    <axis xyz="0 1 0"/>
    <parent link="torso"/>
    <child link="leftShoulderPitchLink"/>
    <limit effort="190" lower="-2.85" upper="2.0" velocity="5.89"/>
    <controller_gains Kd="0.0" Ki="0.0" Kp="0.0"/>
    <dynamics damping="0.1" friction="0.0"/>
  </joint>
  <gazebo reference="leftShoulderPitch">
    <provideFeedback>1</provideFeedback>
    <implicitSpringDamper>1</implicitSpringDamper>
  </gazebo>
  <joint name="leftShoulderRoll" type="revolute">
    <origin rpy="0.0 0.0 0.0" xyz="0.0 0.2499 0.0"/>
    <axis xyz="1 0 0"/>
    <parent link="leftShoulderPitchLink"/>
    <child link="leftShoulderRollLink"/>
    <limit effort="190" lower="-1.519" upper="1.266" velocity="5.89"/>
    <controller_gains Kd="0.0" Ki="0.0" Kp="0.0"/>
    <dynamics damping="0.1" friction="0.0"/>
  </joint>
  <gazebo reference="leftShoulderRoll">
    <provideFeedback>1</provideFeedback>
    <implicitSpringDamper>1</implicitSpringDamper>
  </gazebo>
  <joint name="leftShoulderYaw" type="revolute">
    <origin rpy="0.0 0.0 0.0" xyz="0.0 0.0 0.0"/>
    <axis xyz="0 1 0"/>
    <parent link="leftShoulderRollLink"/>
    <child link="leftShoulderYawLink"/>
    <limit effort="65" lower="-3.1" upper="2.18" velocity="11.5"/>
    <controller_gains Kd="0.0" Ki="0.0" Kp="0.0"/>
    <dynamics damping="0.1" friction="0.0"/>
  </joint>
  <gazebo reference="leftShoulderYaw">
    <provideFeedback>1</provideFeedback>
    <implicitSpringDamper>1</implicitSpringDamper>
  </gazebo>
  <joint name="leftElbowPitch" type="revolute">
    <origin rpy="0.0 0.0 0.0" xyz="0.0254 0.33 0.0"/>
    <axis xyz="0 0 1"/>
    <parent link="leftShoulderYawLink"/>
    <child link="leftElbowPitchLink"/>
    <limit effort="65" lower="-2.174" upper="0.12" velocity="11.5"/>
    <controller_gains Kd="0.0" Ki="0.0" Kp="0.0"/>
    <dynamics damping="0.1" friction="0.0"/>
  </joint>
  <gazebo reference="leftElbowPitch">
    <provideFeedback>1</provideFeedback>
    <implicitSpringDamper>1</implicitSpringDamper>
  </gazebo>
  <link name="leftForearmLink">
    <inertial>
      <mass value="2.476"/>
      <origin rpy="0 0 0" xyz="0.015000 0.13 0.019564"/>
      <inertia ixx="0.01175543" ixy="0.001300853" ixz="-0.000727141" iyy="0.005071567" iyz="0.001695416" izz="0.011365657"/>
    </inertial>
    <visual>
      <geometry>
        <mesh filename="model/meshes/arms/aj5_left.dae"/>
      </geometry>
      <origin rpy="0.0 0.0 0.0" xyz="0.0 0.0 0.0"/>
    </visual>
    <collision>
      <geometry>
        <mesh filename="model/meshes/arms/aj5_left.dae"/>
      </geometry>
      <origin rpy="0 0 0" xyz="0 0 0"/>
    </collision>
  </link>
  <link name="leftWristRollLink">
    <inertial>
      <mass value="0.14"/>
      <origin rpy="0 0 0" xyz="0 0.0 0"/>
      <inertia ixx="3.0251e-05" ixy="1.25e-07" ixz="3.6e-08" iyy="3.772e-05" iyz="0.0" izz="9.395e-06"/>
    </inertial>
    <visual>
      <geometry>
        <mesh filename="model/meshes/arms/aj6_left.dae"/>
      </geometry>
      <origin rpy="0.0 0.0 0.0" xyz="0.0 0.0 0.0"/>
    </visual>
    <collision>
      <geometry>
        <mesh filename="model/meshes/arms/aj6_left.dae"/>
      </geometry>
      <origin rpy="0 0 0" xyz="0 0 0"/>
    </collision>
  </link>
  <link name="leftPalm">
    <inertial>
      <mass value="0.712"/>
      <origin rpy="0 0 0" xyz="0.002954 0.052034 -0.000236"/>
      <inertia ixx="0.000943493" ixy="3.4393e-05" ixz="3.8828e-05" iyy="0.000711024" iyz="-2.3429e-05" izz="0.000610199"/>
    </inertial>
    <visual>
      <geometry>
        <mesh filename="model/meshes/arms/palm_left.dae"/>
      </geometry>
      <origin rpy="0.0 0.0 0.0" xyz="0.0 0.0 0.0"/>
    </visual>
    <collision>
      <geometry>
        <mesh filename="model/meshes/arms/palm_left.dae"/>
      </geometry>
      <origin rpy="0 0 0" xyz="0 0 0"/>
    </collision>
  </link>
  <joint name="leftForearmYaw" type="revolute">
    <origin rpy="0.0 0.0 0.0" xyz="-0.0254 0 0"/>
    <axis xyz="0 1 0"/>
    <parent link="leftElbowPitchLink"/>
    <child link="leftForearmLink"/>
    <limit effort="26" lower="-2.019" upper="3.14" velocity="5"/>
    <controller_gains Kd="0" Ki="0.0" Kp="0.0"/>
    <dynamics damping="0.1" friction="0.0"/>
  </joint>
  <gazebo reference="leftForearmYaw">
    <provideFeedback>1</provideFeedback>
    <implicitSpringDamper>1</implicitSpringDamper>
  </gazebo>
  <joint name="leftWristRoll" type="revolute">
    <origin rpy="0.0 0.0 0.0" xyz="0.0 0.2871 0.0"/>
    <axis xyz="1 0 0"/>
    <parent link="leftForearmLink"/>
    <child link="leftWristRollLink"/>
    <limit effort="14" lower="-0.62" upper="0.625" velocity="1"/>
    <controller_gains Kd="400" Ki="0.0" Kp="20000"/>
    <dynamics damping="0.1" friction="0.0"/>
  </joint>
  <gazebo reference="leftWristRoll">
    <provideFeedback>1</provideFeedback>
    <implicitSpringDamper>1</implicitSpringDamper>
  </gazebo>
  <joint name="leftWristPitch" type="revolute">
    <origin rpy="0.0 0.0 0.0" xyz="0.0 0.0 0.0"/>
    <axis xyz="0 0 1"/>
    <parent link="leftWristRollLink"/>
    <child link="leftPalm"/>
    <limit effort="14" lower="-0.36" upper="0.49" velocity="1"/>
    <controller_gains Kd="400" Ki="0.0" Kp="20000"/>
    <dynamics damping="0.1" friction="0.0"/>
  </joint>
  <gazebo reference="leftWristPitch">
    <provideFeedback>1</provideFeedback>
    <implicitSpringDamper>1</implicitSpringDamper>
  </gazebo>
  <link name="leftThumbRollLink">
    <inertial>
      <mass value="0.017"/>
      <origin rpy="0 0 0" xyz="0 0.0 0.01"/>
      <inertia ixx="2.7778767e-06" ixy="5.6718533e-09" ixz="9.5523207e-08" iyy="3.5462642e-06" iyz="-3.663718e-08" izz="1.3553297e-06"/>
    </inertial>
    <visual>
      <geometry>
        <mesh filename="model/meshes/fingers/thumbj1_left.dae"/>
      </geometry>
      <origin rpy="0.0 0.0 0.0" xyz="0.0 0.0 0.0"/>
    </visual>
    <collision>
      <geometry>
        <mesh filename="model/meshes/fingers/thumbj1_left.dae"/>
      </geometry>
      <origin rpy="0 0 0" xyz="0 0 0"/>
    </collision>
  </link>
  <link name="leftThumbPitch1Link">
    <inertial>
      <mass value="0.02"/>
      <origin rpy="0 0 0" xyz="0.0 0.005 0.02"/>
      <inertia ixx="4.239e-06" ixy="0.0" ixz="0.0" iyy="4.582e-06" iyz="-0.0" izz="1.47e-06"/>
    </inertial>
    <visual>
      <geometry>
        <mesh filename="model/meshes/fingers/thumbj2_left.dae"/>
      </geometry>
      <origin rpy="0.0 0.0 0.0" xyz="0.0 0.0 0.0"/>
    </visual>
    <collision>
      <geometry>
        <mesh filename="model/meshes/fingers/thumbj2_left.dae"/>
      </geometry>
      <origin rpy="0 0 0" xyz="0 0 0"/>
    </collision>
  </link>
  <link name="leftThumbPitch2Link">
    <inertial>
      <mass value="0.013"/>
      <origin rpy="0 0 0" xyz="0 0.004 0.017"/>
      <inertia ixx="1.266e-06" ixy="0.0" ixz="0.0" iyy="1.503e-06" iyz="0.0" izz="6.99e-07"/>
    </inertial>
    <visual>
      <geometry>
        <mesh filename="model/meshes/fingers/thumbj3_left.dae"/>
      </geometry>
      <origin rpy="0.0 0.0 0.0" xyz="0.0 0.0 0.0"/>
    </visual>
    <collision>
      <geometry>
        <mesh filename="model/meshes/fingers/thumbj3_left.dae"/>
      </geometry>
      <origin rpy="0 0 0" xyz="0 0 0"/>
    </collision>
  </link>
  <link name="leftThumbPitch3Link">
    <inertial>
      <mass value="0.006"/>
      <origin rpy="0 0 0" xyz="0 0.004 0.01"/>
      <inertia ixx="3.22e-07" ixy="0.0" ixz="0.0" iyy="4.06e-07" iyz="0.0" izz="2.1e-07"/>
    </inertial>
    <visual>
      <geometry>
        <mesh filename="model/meshes/fingers/thumbj4_left.dae"/>
      </geometry>
      <origin rpy="0.0 0.0 0.0" xyz="0.0 0.0 0.0"/>
    </visual>
    <collision>
      <geometry>
        <mesh filename="model/meshes/fingers/thumbj4_left.dae"/>
      </geometry>
      <origin rpy="0 0 0" xyz="0 0 0"/>
    </collision>
  </link>
  <joint name="leftThumbRoll" type="fixed">
    <origin rpy="-0.3491 0.0 0.0" xyz="0.0049 0.0351 0.0228"/>
    <axis xyz="0 0 1"/>
    <parent link="leftPalm"/>
    <child link="leftThumbRollLink"/>
  </joint>
  <gazebo reference="leftThumbRoll">
    <implicitSpringDamper>1</implicitSpringDamper>
  </gazebo>
  <joint name="leftThumbPitch1" type="fixed">
    <origin rpy="0.3491 0.0 0.0" xyz="0.0 0.0 0.0229"/>
    <axis xyz="0 0 1"/>
    <parent link="leftThumbRollLink"/>
    <child link="leftThumbPitch1Link"/>
  </joint>
  <gazebo reference="leftThumbPitch1">
    <implicitSpringDamper>1</implicitSpringDamper>
  </gazebo>
  <joint name="leftThumbPitch2" type="fixed">
    <origin rpy="0.0 0.0 0.0" xyz="0.0 0.0066 0.0375"/>
    <axis xyz="0 0 1"/>
    <parent link="leftThumbPitch1Link"/>
    <child link="leftThumbPitch2Link"/>
  </joint>
  <gazebo reference="leftThumbPitch2">
    <implicitSpringDamper>1</implicitSpringDamper>
  </gazebo>
  <joint name="leftThumbPitch3" type="fixed">
    <origin rpy="0.0 0.0 0.0" xyz="0.0 0.0049 0.0275"/>
    <axis xyz="0 0 1"/>
    <parent link="leftThumbPitch2Link"/>
    <child link="leftThumbPitch3Link"/>
  </joint>
  <gazebo reference="leftThumbPitch3">
    <implicitSpringDamper>1</implicitSpringDamper>
  </gazebo>
  <link name="leftIndexFingerPitch1Link">
    <inertial>
      <mass value="0.02"/>
      <origin rpy="0 0 0" xyz="0 0.02 0"/>
      <inertia ixx="4.232e-06" ixy="6e-08" ixz="8e-09" iyy="1.215e-06" iyz="-7e-09" izz="3.892e-06"/>
    </inertial>
    <visual>
      <geometry>
        <mesh filename="model/meshes/fingers/indexj1_left.dae"/>
      </geometry>
      <origin rpy="0.0 0.0 0.0" xyz="0.0 0.0 0.0"/>
    </visual>
    <collision>
      <geometry>
        <mesh filename="model/meshes/fingers/indexj1_left.dae"/>
      </geometry>
      <origin rpy="0 0 0" xyz="0 0 0"/>
    </collision>
  </link>
  <link name="leftIndexFingerPitch2Link">
    <inertial>
      <mass value="0.018"/>
      <origin rpy="0 0 0" xyz="0 0.013 0"/>
      <inertia ixx="1.562e-06" ixy="1.7e-08" ixz="1.3e-08" iyy="7.22e-07" iyz="3.1e-08" izz="1.255e-06"/>
    </inertial>
    <visual>
      <geometry>
        <mesh filename="model/meshes/fingers/indexj2_left.dae"/>
      </geometry>
      <origin rpy="0.0 0.0 0.0" xyz="0.0 0.0 0.0"/>
    </visual>
    <collision>
      <geometry>
        <mesh filename="model/meshes/fingers/indexj2_left.dae"/>
      </geometry>
      <origin rpy="0 0 0" xyz="0 0 0"/>
    </collision>
  </link>
  <link name="leftIndexFingerPitch3Link">
    <inertial>
      <mass value="0.01"/>
      <origin rpy="0 0 0" xyz="0 0.01 0"/>
      <inertia ixx="6.02e-07" ixy="2.4e-08" ixz="-0.0" iyy="2.09e-07" iyz="1.7e-08" izz="5.02e-07"/>
    </inertial>
    <visual>
      <geometry>
        <mesh filename="model/meshes/fingers/indexj3_left.dae"/>
      </geometry>
      <origin rpy="0.0 0.0 0.0" xyz="0.0 0.0 0.0"/>
    </visual>
    <collision>
      <geometry>
        <mesh filename="model/meshes/fingers/indexj3_left.dae"/>
      </geometry>
      <origin rpy="0 0 0" xyz="0 0 0"/>
    </collision>
  </link>
  <joint name="leftIndexFingerPitch1" type="fixed">
    <origin rpy="0.1745 0.0 0.0" xyz="0.0022 0.0976 0.0235"/>
    <axis xyz="0 0 1"/>
    <parent link="leftPalm"/>
    <child link="leftIndexFingerPitch1Link"/>
  </joint>
  <gazebo reference="leftIndexFingerPitch1">
    <implicitSpringDamper>1</implicitSpringDamper>
  </gazebo>
  <joint name="leftIndexFingerPitch2" type="fixed">
    <origin rpy="0.0 0.0 0.0" xyz="0.0 0.0381 0.0"/>
    <axis xyz="0 0 1"/>
    <parent link="leftIndexFingerPitch1Link"/>
    <child link="leftIndexFingerPitch2Link"/>
  </joint>
  <gazebo reference="leftIndexFingerPitch2">
    <implicitSpringDamper>1</implicitSpringDamper>
  </gazebo>
  <joint name="leftIndexFingerPitch3" type="fixed">
    <origin rpy="0.0 0.0 0.0" xyz="0.0 0.0229 0"/>
    <axis xyz="0 0 1"/>
    <parent link="leftIndexFingerPitch2Link"/>
    <child link="leftIndexFingerPitch3Link"/>
  </joint>
  <gazebo reference="leftIndexFingerPitch3">
    <implicitSpringDamper>1</implicitSpringDamper>
  </gazebo>
  <link name="leftMiddleFingerPitch1Link">
    <inertial>
      <mass value="0.02"/>
      <origin rpy="0 0 0" xyz="0 0.02 0"/>
      <inertia ixx="5.148e-06" ixy="4.2e-08" ixz="1.1e-08" iyy="1.322e-06" iyz="-4e-09" izz="4.592e-06"/>
    </inertial>
    <visual>
      <geometry>
        <mesh filename="model/meshes/fingers/middlej1_left.dae"/>
      </geometry>
      <origin rpy="0.0 0.0 0.0" xyz="0.0 0.0 0.0"/>
    </visual>
    <collision>
      <geometry>
        <mesh filename="model/meshes/fingers/middlej1_left.dae"/>
      </geometry>
      <origin rpy="0 0 0" xyz="0 0 0"/>
    </collision>
  </link>
  <link name="leftMiddleFingerPitch2Link">
    <inertial>
      <mass value="0.011"/>
      <origin rpy="0 0 0" xyz="0 0.013 0"/>
      <inertia ixx="1.97e-06" ixy="-3.4e-08" ixz="1.1e-08" iyy="5.54e-07" iyz="-7.8e-08" izz="2.272e-06"/>
    </inertial>
    <visual>
      <geometry>
        <mesh filename="model/meshes/fingers/middlej2_left.dae"/>
      </geometry>
      <origin rpy="0.0 0.0 0.0" xyz="0.0 0.0 0.0"/>
    </visual>
    <collision>
      <geometry>
        <mesh filename="model/meshes/fingers/middlej2_left.dae"/>
      </geometry>
      <origin rpy="0 0 0" xyz="0 0 0"/>
    </collision>
  </link>
  <link name="leftMiddleFingerPitch3Link">
    <inertial>
      <mass value="0.006"/>
      <origin rpy="0 0 0" xyz="0 0.01 0"/>
      <inertia ixx="3.96e-07" ixy="9e-09" ixz="1e-09" iyy="1.6e-07" iyz="1.6e-08" izz="3.03e-07"/>
    </inertial>
    <visual>
      <geometry>
        <mesh filename="model/meshes/fingers/middlej3_left.dae"/>
      </geometry>
      <origin rpy="0.0 0.0 0.0" xyz="0.0 0.0 0.0"/>
    </visual>
    <collision>
      <geometry>
        <mesh filename="model/meshes/fingers/middlej3_left.dae"/>
      </geometry>
      <origin rpy="0 0 0" xyz="0 0 0"/>
    </collision>
  </link>
  <joint name="leftMiddleFingerPitch1" type="fixed">
    <origin rpy="-0.1222 0.0 0.0" xyz="0.0022 0.097 -0.0119"/>
    <axis xyz="0 0 1"/>
    <parent link="leftPalm"/>
    <child link="leftMiddleFingerPitch1Link"/>
  </joint>
  <gazebo reference="leftMiddleFingerPitch1">
    <implicitSpringDamper>1</implicitSpringDamper>
  </gazebo>
  <joint name="leftMiddleFingerPitch2" type="fixed">
    <origin rpy="0.0 0.0 0.0" xyz="0.0 0.0381 0.0"/>
    <axis xyz="0 0 1"/>
    <parent link="leftMiddleFingerPitch1Link"/>
    <child link="leftMiddleFingerPitch2Link"/>
  </joint>
  <gazebo reference="leftMiddleFingerPitch2">
    <implicitSpringDamper>1</implicitSpringDamper>
  </gazebo>
  <joint name="leftMiddleFingerPitch3" type="fixed">
    <origin rpy="0.0 0.0 0.0" xyz="0.0 0.0229 0.0"/>
    <axis xyz="0 0 1"/>
    <parent link="leftMiddleFingerPitch2Link"/>
    <child link="leftMiddleFingerPitch3Link"/>
  </joint>
  <gazebo reference="leftMiddleFingerPitch3">
    <implicitSpringDamper>1</implicitSpringDamper>
  </gazebo>
  <link name="leftPinkyPitch1Link">
    <inertial>
      <mass value="0.02"/>
      <origin rpy="0 0 0" xyz="0 0.02 0"/>
      <inertia ixx="5.148e-06" ixy="4.2e-08" ixz="1.1e-08" iyy="1.322e-06" iyz="-4e-09" izz="4.592e-06"/>
    </inertial>
    <visual>
      <geometry>
        <mesh filename="model/meshes/fingers/pinkyj1_left.dae"/>
      </geometry>
      <origin rpy="0.0 0.0 0.0" xyz="0.0 0.0 0.0"/>
    </visual>
    <collision>
      <geometry>
        <mesh filename="model/meshes/fingers/pinkyj1_left.dae"/>
      </geometry>
      <origin rpy="0 0 0" xyz="0 0 0"/>
    </collision>
  </link>
  <link name="leftPinkyPitch2Link">
    <inertial>
      <mass value="0.011"/>
      <origin rpy="0 0 0" xyz="0 0.013 0"/>
      <inertia ixx="1.97e-06" ixy="-3.4e-08" ixz="1.1e-08" iyy="5.54e-07" iyz="-7.8e-08" izz="2.272e-06"/>
    </inertial>
    <visual>
      <geometry>
        <mesh filename="model/meshes/fingers/pinkyj2_left.dae"/>
      </geometry>
      <origin rpy="0.0 0.0 0.0" xyz="0.0 0.0 0.0"/>
    </visual>
    <collision>
      <geometry>
        <mesh filename="model/meshes/fingers/pinkyj2_left.dae"/>
      </geometry>
      <origin rpy="0 0 0" xyz="0 0 0"/>
    </collision>
  </link>
  <link name="leftPinkyPitch3Link">
    <inertial>
      <mass value="0.006"/>
      <origin rpy="0 0 0" xyz="0 0.01 0"/>
      <inertia ixx="3.96e-07" ixy="9e-09" ixz="1e-09" iyy="1.6e-07" iyz="1.6e-08" izz="3.03e-07"/>
    </inertial>
    <visual>
      <geometry>
        <mesh filename="model/meshes/fingers/pinkyj3_left.dae"/>
      </geometry>
      <origin rpy="0.0 0.0 0.0" xyz="0.0 0.0 0.0"/>
    </visual>
    <collision>
      <geometry>
        <mesh filename="model/meshes/fingers/pinkyj3_left.dae"/>
      </geometry>
      <origin rpy="0 0 0" xyz="0 0 0"/>
    </collision>
  </link>
  <joint name="leftPinkyPitch1" type="fixed">
    <origin rpy="-0.1222 0.0 0.0" xyz="0.0022 0.0838 -0.041"/>
    <axis xyz="0 0 1"/>
    <parent link="leftPalm"/>
    <child link="leftPinkyPitch1Link"/>
  </joint>
  <gazebo reference="leftPinkyPitch1">
    <implicitSpringDamper>1</implicitSpringDamper>
  </gazebo>
  <joint name="leftPinkyPitch2" type="fixed">
    <origin rpy="0.0 0.0 0.0" xyz="0.0 0.0381 0.0"/>
    <axis xyz="0 0 1"/>
    <parent link="leftPinkyPitch1Link"/>
    <child link="leftPinkyPitch2Link"/>
  </joint>
  <gazebo reference="leftPinkyPitch2">
    <implicitSpringDamper>1</implicitSpringDamper>
  </gazebo>
  <joint name="leftPinkyPitch3" type="fixed">
    <origin rpy="0.0 0.0 0.0" xyz="0.0 0.0229 0.0"/>
    <axis xyz="0 0 1"/>
    <parent link="leftPinkyPitch2Link"/>
    <child link="leftPinkyPitch3Link"/>
  </joint>
  <gazebo reference="leftPinkyPitch3">
    <implicitSpringDamper>1</implicitSpringDamper>
  </gazebo>
  <link name="rightHipYawLink">
    <inertial>
      <mass value="2.39"/>
      <origin rpy="0 0 0" xyz="0.02176 0.00131 0.03867"/>
      <inertia ixx="0.017260978" ixy="0.0" ixz="0.0" iyy="0.014866198" iyz="0.0" izz="0.011238178"/>
    </inertial>
    <visual>
      <geometry>
        <mesh filename="model/meshes/legs/lj1_right.dae"/>
      </geometry>
      <origin rpy="0.0 0.0 0.0" xyz="0.0 0.0 0.0"/>
    </visual>
    <collision>
      <geometry>
        <mesh filename="model/meshes/legs/lj1_right.dae"/>
      </geometry>
      <origin rpy="0 0 0" xyz="0 0 0"/>
    </collision>
  </link>
  <link name="rightHipRollLink">
    <inertial>
      <mass value="3.665"/>
      <origin rpy="0 0 0" xyz="0.012959 -0.00755 -0.015950"/>
      <inertia ixx="0.005978962" ixy="0.000234823" ixz="0.000553962" iyy="0.009372646" iyz="-0.000778956" izz="0.008193117"/>
    </inertial>
    <visual>
      <geometry>
        <mesh filename="model/meshes/legs/lj2_right.dae"/>
      </geometry>
      <origin rpy="0.0 0.0 0.0" xyz="0.0 0.0 0.0"/>
    </visual>
    <collision>
      <geometry>
        <mesh filename="model/meshes/legs/lj2_right.dae"/>
      </geometry>
      <origin rpy="0 0 0" xyz="0 0 0"/>
    </collision>
  </link>
  <link name="rightHipPitchLink">
    <inertial>
      <mass value="10.2"/>
      <origin rpy="0 0 0" xyz="0.016691 -0.091397 -0.207875"/>
      <inertia ixx="0.24083413" ixy="-3.5915e-05" ixz="0.003699383" iyy="0.25689705" iyz="0.001333005" izz="0.023276352"/>
    </inertial>
    <visual>
      <geometry>
        <mesh filename="model/meshes/legs/lj3_right.dae"/>
      </geometry>
      <origin rpy="0.0 0.0 0.0" xyz="0.0 0.0 0.0"/>
    </visual>
    <collision>
      <geometry>
        <mesh filename="model/meshes/legs/lj3_right.dae"/>
      </geometry>
      <origin rpy="0 0 0" xyz="0 0 0"/>
    </collision>
  </link>
  <link name="rightKneePitchLink">
    <inertial>
      <mass value="6.2"/>
      <origin rpy="0 0 0" xyz="-0.022183  0.001703  -0.189418"/>
      <inertia ixx="0.086935683" ixy="9.929e-05" ixz="0.000573207" iyy="0.091584066" iyz="0.000313745" izz="0.014017272"/>
    </inertial>
    <visual>
      <geometry>
        <mesh filename="model/meshes/legs/lj4_right.dae"/>
      </geometry>
      <origin rpy="0.0 0.0 0.0" xyz="0.0 0.0 0.0"/>
    </visual>
    <collision>
      <geometry>
        <mesh filename="model/meshes/legs/lj4_right.dae"/>
      </geometry>
      <origin rpy="0 0 0" xyz="0 0 0"/>
    </collision>
  </link>
  <link name="rightAnklePitchLink">
    <inertial>
      <mass value="0.03"/>
      <origin rpy="0 0 0" xyz="0.0 0.0 0.0"/>
      <inertia ixx="4.377e-06" ixy="0.0" ixz="0.0" iyy="4.322e-06" iyz="0.0" izz="7.015e-06"/>
    </inertial>
    <visual>
      <geometry>
        <mesh filename="model/meshes/legs/lj5.dae"/>
      </geometry>
      <origin rpy="0.0 0.0 0.0" xyz="0.0 0.0 0.0"/>
    </visual>
    <collision>
      <geometry>
        <mesh filename="model/meshes/legs/lj5.dae"/>
      </geometry>
      <origin rpy="0 0 0" xyz="0 0 0"/>
    </collision>
  </link>
  <link name="rightFoot">
    <inertial>
      <mass value="2.27"/>
      <origin rpy="0 0 0" xyz="0.037702  0.005161  -0.047634"/>
      <inertia ixx="0.00623936" ixy="0.000217174" ixz="0.001340587" iyy="0.017786991" iyz="-0.000187749" izz="0.020774433"/>
    </inertial>
    <visual>
      <geometry>
        <mesh filename="model/meshes/legs/foot.dae"/>
      </geometry>
      <origin rpy="0 0 0" xyz="0 0 0"/>
    </visual>
    <collision>
      <geometry>
        <box size="0.27 0.16 0.064"/>
      </geometry>
      <origin rpy="0.0 0.0 0.0" xyz="0.066 0.0 -0.056"/>
    </collision>
    <collision group="midfoot_rear">
      <origin rpy="0 0 0" xyz="0.032 0.055 -0.09"/>
      <geometry>
        <sphere radius="0.0"/>
      </geometry>
    </collision>
    <visual group="midfoot_rear">
      <origin rpy="0 0 0" xyz="0.032 0.055 -0.09"/>
      <geometry>
        <sphere radius="0.01"/>
      </geometry>
    </visual>
    <collision group="midfoot_rear">
      <origin rpy="0 0 0" xyz="0.032 -0.055 -0.09"/>
      <geometry>
        <sphere radius="0.0"/>
      </geometry>
    </collision>
    <visual group="midfoot_rear">
      <origin rpy="0 0 0" xyz="0.032 -0.055 -0.09"/>
      <geometry>
        <sphere radius="0.01"/>
      </geometry>
    </visual>
    <collision group="midfoot_front">
      <origin rpy="0 0 0" xyz="0.102 0.055 -0.09"/>
      <geometry>
        <sphere radius="0.0"/>
      </geometry>
    </collision>
    <visual group="midfoot_front">
      <origin rpy="0 0 0" xyz="0.102 0.055 -0.09"/>
      <geometry>
        <sphere radius="0.01"/>
      </geometry>
    </visual>
    <collision group="midfoot_front">
      <origin rpy="0 0 0" xyz="0.102 -0.055 -0.09"/>
      <geometry>
        <sphere radius="0.0"/>
      </geometry>
    </collision>
    <visual group="midfoot_front">
      <origin rpy="0 0 0" xyz="0.102 -0.055 -0.09"/>
      <geometry>
        <sphere radius="0.01"/>
      </geometry>
    </visual>    
    <collision group="heel">
      <origin rpy="0 0 0" xyz="-0.038 0.055 -0.09"/>
      <geometry>
        <sphere radius="0.0"/>
      </geometry>
    </collision>
    <visual group="heel">
      <origin rpy="0 0 0" xyz="-0.038 0.055 -0.09"/>
      <geometry>
        <sphere radius="0.01"/>
      </geometry>
    </visual>
    <collision group="heel">
      <origin rpy="0 0 0" xyz="-0.038 -0.055 -0.09"/>
      <geometry>
        <sphere radius="0.0"/>
      </geometry>
    </collision>
    <visual group="heel">
      <origin rpy="0 0 0" xyz="-0.038 -0.055 -0.09"/>
      <geometry>
        <sphere radius="0.01"/>
      </geometry>
    </visual>
    <collision group="toe">
      <origin rpy="0 0 0" xyz="0.172 0.055 -0.09"/>
      <geometry>
        <sphere radius="0.0"/>
      </geometry>
    </collision>
    <visual group="toe">
      <origin rpy="0 0 0" xyz="0.172 0.055 -0.09"/>
      <geometry>
        <sphere radius="0.01"/>
      </geometry>
    </visual>
    <collision group="toe">
      <origin rpy="0 0 0" xyz="0.172 -0.055 -0.09"/>
      <geometry>
        <sphere radius="0.0"/>
      </geometry>
    </collision>
    <visual group="toe">
      <origin rpy="0 0 0" xyz="0.172 -0.055 -0.09"/>
      <geometry>
        <sphere radius="0.01"/>
      </geometry>
    </visual>
  </link>
  <joint name="rightHipYaw" type="revolute">
    <origin rpy="0.0 0.0 0.0" xyz="0.0 -0.1016 -0.1853"/>
    <axis xyz="0 0 1"/>
    <parent link="pelvis"/>
    <child link="rightHipYawLink"/>
    <limit effort="190" lower="-1.1" upper="0.4141" velocity="5.89"/>
    <controller_gains Kd="0.0" Ki="0.0" Kp="0.0"/>
    <dynamics damping="0.1" friction="0.0"/>
  </joint>
  <gazebo reference="rightHipYaw">
    <provideFeedback>1</provideFeedback>
    <implicitSpringDamper>1</implicitSpringDamper>
  </gazebo>
  <joint name="rightHipRoll" type="revolute">
    <origin rpy="0.0 0.0 0.0" xyz="0.0 0.0 0.0"/>
    <axis xyz="1 0 0"/>
    <parent link="rightHipYawLink"/>
    <child link="rightHipRollLink"/>
    <limit effort="350" lower="-0.5515" upper="0.467" velocity="7"/>
    <controller_gains Kd="0.0" Ki="0.0" Kp="0.0"/>
    <dynamics damping="0.1" friction="0.0"/>
  </joint>
  <gazebo reference="rightHipRoll">
    <provideFeedback>1</provideFeedback>
    <implicitSpringDamper>1</implicitSpringDamper>
  </gazebo>
  <joint name="rightHipPitch" type="revolute">
    <origin rpy="0.0 0.0 0.0" xyz="0.0 0.0 -0.0609"/>
    <axis xyz="0 1 0"/>
    <parent link="rightHipRollLink"/>
    <child link="rightHipPitchLink"/>
    <limit effort="350" lower="-2.42" upper="1.619" velocity="6.11"/>
    <controller_gains Kd="0.0" Ki="0.0" Kp="0.0"/>
    <dynamics damping="0.1" friction="0.0"/>
  </joint>
  <gazebo reference="rightHipPitch">
    <provideFeedback>1</provideFeedback>
    <implicitSpringDamper>1</implicitSpringDamper>
  </gazebo>
  <joint name="rightKneePitch" type="revolute">
    <origin rpy="0.0 0.0 0.0" xyz="0.000112225 -0.0361046 -0.430959"/>
    <axis xyz="0 1 0"/>
    <parent link="rightHipPitchLink"/>
    <child link="rightKneePitchLink"/>
    <limit effort="350" lower="-0.083" upper="2.057" velocity="6.11"/>
    <controller_gains Kd="0.0" Ki="0.0" Kp="0.0"/>
    <dynamics damping="0.1" friction="0.0"/>
  </joint>
  <gazebo reference="rightKneePitch">
    <provideFeedback>1</provideFeedback>
    <implicitSpringDamper>1</implicitSpringDamper>
  </gazebo>
  <joint name="rightAnklePitch" type="revolute">
    <origin rpy="0.0 0.0 0.0" xyz="-0.0102381 0.0 -0.40627"/>
    <axis xyz="0 1 0"/>
    <parent link="rightKneePitchLink"/>
    <child link="rightAnklePitchLink"/>
    <limit effort="205" lower="-0.8644" upper="0.875" velocity="11"/>
    <controller_gains Kd="0.0" Ki="0.0" Kp="0.0"/>
    <dynamics damping="0.1" friction="0.0"/>
  </joint>
  <gazebo reference="rightAnklePitch">
    <provideFeedback>1</provideFeedback>
    <implicitSpringDamper>1</implicitSpringDamper>
  </gazebo>
  <joint name="rightAnkleRoll" type="revolute">
    <origin rpy="0.0 0.0 0.0" xyz="0.0 0.0 0.0"/>
    <axis xyz="1 0 0"/>
    <parent link="rightAnklePitchLink"/>
    <child link="rightFoot"/>
    <limit effort="205" lower="-0.349" upper="0.348" velocity="11"/>
    <controller_gains Kd="0.0" Ki="0.0" Kp="0.0"/>
    <dynamics damping="0.3" friction="0.0"/>
  </joint>
  <gazebo reference="rightAnkleRoll">
    <provideFeedback>1</provideFeedback>
    <implicitSpringDamper>1</implicitSpringDamper>
  </gazebo>
  <link name="leftHipYawLink">
    <inertial>
      <mass value="2.39"/>
      <origin rpy="0 0 0" xyz="0.02176 -0.00131 0.03867"/>
      <inertia ixx="0.017260978" ixy="0.0" ixz="0.0" iyy="0.014866198" iyz="0.0" izz="0.011238178"/>
    </inertial>
    <visual>
      <geometry>
        <mesh filename="model/meshes/legs/lj1_left.dae"/>
      </geometry>
      <origin rpy="0.0 0.0 0.0" xyz="0.0 0.0 0.0"/>
    </visual>
    <collision>
      <geometry>
        <mesh filename="model/meshes/legs/lj1_left.dae"/>
      </geometry>
      <origin rpy="0 0 0" xyz="0 0 0"/>
    </collision>
  </link>
  <link name="leftHipRollLink">
    <inertial>
      <mass value="3.665"/>
      <origin rpy="0 0 0" xyz="0.012959 0.00755 -0.015950"/>
      <inertia ixx="0.005978962" ixy="-0.000234823" ixz="0.000553962" iyy="0.009372646" iyz="0.000778956" izz="0.008193117"/>
    </inertial>
    <visual>
      <geometry>
        <mesh filename="model/meshes/legs/lj2_left.dae"/>
      </geometry>
      <origin rpy="0.0 0.0 0.0" xyz="0.0 0.0 0.0"/>
    </visual>
    <collision>
      <geometry>
        <mesh filename="model/meshes/legs/lj2_left.dae"/>
      </geometry>
      <origin rpy="0 0 0" xyz="0 0 0"/>
    </collision>
  </link>
  <link name="leftHipPitchLink">
    <inertial>
      <mass value="10.2"/>
      <origin rpy="0 0 0" xyz="0.016691 0.091397 -0.207875"/>
      <inertia ixx="0.24083413" ixy="3.5915e-05" ixz="0.003699383" iyy="0.25689705" iyz="-0.001333005" izz="0.023276352"/>
    </inertial>
    <visual>
      <geometry>
        <mesh filename="model/meshes/legs/lj3_left.dae"/>
      </geometry>
      <origin rpy="0.0 0.0 0.0" xyz="0.0 0.0 0.0"/>
    </visual>
    <collision>
      <geometry>
        <mesh filename="model/meshes/legs/lj3_left.dae"/>
      </geometry>
      <origin rpy="0 0 0" xyz="0 0 0"/>
    </collision>
  </link>
  <link name="leftKneePitchLink">
    <inertial>
      <mass value="6.2"/>
      <origin rpy="0 0 0" xyz="-0.022183  0.001703  -0.189418"/>
      <inertia ixx="0.086935683" ixy="9.929e-05" ixz="0.000573207" iyy="0.091584066" iyz="0.000313745" izz="0.014017272"/>
    </inertial>
    <visual>
      <geometry>
        <mesh filename="model/meshes/legs/lj4_left.dae"/>
      </geometry>
      <origin rpy="0.0 0.0 0.0" xyz="0.0 0.0 0.0"/>
    </visual>
    <collision>
      <geometry>
        <mesh filename="model/meshes/legs/lj4_left.dae"/>
      </geometry>
      <origin rpy="0 0 0" xyz="0 0 0"/>
    </collision>
  </link>
  <link name="leftAnklePitchLink">
    <inertial>
      <mass value="0.03"/>
      <origin rpy="0 0 0" xyz="0.0 0.0 0.0"/>
      <inertia ixx="4.377e-06" ixy="0.0" ixz="0.0" iyy="4.322e-06" iyz="0.0" izz="7.015e-06"/>
    </inertial>
    <visual>
      <geometry>
        <mesh filename="model/meshes/legs/lj5.dae"/>
      </geometry>
      <origin rpy="0.0 0.0 0.0" xyz="0.0 0.0 0.0"/>
    </visual>
    <collision>
      <geometry>
        <mesh filename="model/meshes/legs/lj5.dae"/>
      </geometry>
      <origin rpy="0 0 0" xyz="0 0 0"/>
    </collision>
  </link>
  <link name="leftFoot">
    <inertial>
      <mass value="2.27"/>
      <origin rpy="0 0 0" xyz="0.037702  0.005161  -0.047634"/>
      <inertia ixx="0.00623936" ixy="0.000217174" ixz="0.001340587" iyy="0.017786991" iyz="-0.000187749" izz="0.020774433"/>
    </inertial>
    <visual>
      <geometry>
        <mesh filename="model/meshes/legs/foot.dae"/>
      </geometry>
      <origin rpy="0 0 0" xyz="0 0 0"/>
    </visual>
    <collision>
      <geometry>
        <box size="0.27 0.16 0.064"/>
      </geometry>
      <origin rpy="0.0 0.0 0.0" xyz="0.066 0.0 -0.056"/>
    </collision>
    <collision group="midfoot_rear">
      <origin rpy="0 0 0" xyz="0.032 0.055 -0.09"/>
      <geometry>
        <sphere radius="0.0"/>
      </geometry>
    </collision>
    <visual group="midfoot_rear">
      <origin rpy="0 0 0" xyz="0.032 0.055 -0.09"/>
      <geometry>
        <sphere radius="0.01"/>
      </geometry>
    </visual>
    <collision group="midfoot_rear">
      <origin rpy="0 0 0" xyz="0.032 -0.055 -0.09"/>
      <geometry>
        <sphere radius="0.0"/>
      </geometry>
    </collision>
    <visual group="midfoot_rear">
      <origin rpy="0 0 0" xyz="0.032 -0.055 -0.09"/>
      <geometry>
        <sphere radius="0.01"/>
      </geometry>
    </visual>
    <collision group="midfoot_front">
      <origin rpy="0 0 0" xyz="0.102 0.055 -0.09"/>
      <geometry>
        <sphere radius="0.0"/>
      </geometry>
    </collision>
    <visual group="midfoot_front">
      <origin rpy="0 0 0" xyz="0.102 0.055 -0.09"/>
      <geometry>
        <sphere radius="0.01"/>
      </geometry>
    </visual>
    <collision group="midfoot_front">
      <origin rpy="0 0 0" xyz="0.102 -0.055 -0.09"/>
      <geometry>
        <sphere radius="0.0"/>
      </geometry>
    </collision>
    <visual group="midfoot_front">
      <origin rpy="0 0 0" xyz="0.102 -0.055 -0.09"/>
      <geometry>
        <sphere radius="0.01"/>
      </geometry>
    </visual>    
    <collision group="heel">
      <origin rpy="0 0 0" xyz="-0.038 0.055 -0.09"/>
      <geometry>
        <sphere radius="0.0"/>
      </geometry>
    </collision>
    <visual group="heel">
      <origin rpy="0 0 0" xyz="-0.038 0.055 -0.09"/>
      <geometry>
        <sphere radius="0.01"/>
      </geometry>
    </visual>
    <collision group="heel">
      <origin rpy="0 0 0" xyz="-0.038 -0.055 -0.09"/>
      <geometry>
        <sphere radius="0.0"/>
      </geometry>
    </collision>
    <visual group="heel">
      <origin rpy="0 0 0" xyz="-0.038 -0.055 -0.09"/>
      <geometry>
        <sphere radius="0.01"/>
      </geometry>
    </visual>
    <collision group="toe">
      <origin rpy="0 0 0" xyz="0.172 0.055 -0.09"/>
      <geometry>
        <sphere radius="0.0"/>
      </geometry>
    </collision>
    <visual group="toe">
      <origin rpy="0 0 0" xyz="0.172 0.055 -0.09"/>
      <geometry>
        <sphere radius="0.01"/>
      </geometry>
    </visual>
    <collision group="toe">
      <origin rpy="0 0 0" xyz="0.172 -0.055 -0.09"/>
      <geometry>
        <sphere radius="0.0"/>
      </geometry>
    </collision>
    <visual group="toe">
      <origin rpy="0 0 0" xyz="0.172 -0.055 -0.09"/>
      <geometry>
        <sphere radius="0.01"/>
      </geometry>
    </visual>
  </link>
  <joint name="leftHipYaw" type="revolute">
    <origin rpy="0.0 0.0 0.0" xyz="0.0 0.1016 -0.1853"/>
    <axis xyz="0 0 1"/>
    <parent link="pelvis"/>
    <child link="leftHipYawLink"/>
    <limit effort="190" lower="-0.4141" upper="1.1" velocity="5.89"/>
    <controller_gains Kd="0.0" Ki="0.0" Kp="0.0"/>
    <dynamics damping="0.1" friction="0.0"/>
  </joint>
  <gazebo reference="leftHipYaw">
    <provideFeedback>1</provideFeedback>
    <implicitSpringDamper>1</implicitSpringDamper>
  </gazebo>
  <joint name="leftHipRoll" type="revolute">
    <origin rpy="0.0 0.0 0.0" xyz="0.0 0.0 0.0"/>
    <axis xyz="1 0 0"/>
    <parent link="leftHipYawLink"/>
    <child link="leftHipRollLink"/>
    <limit effort="350" lower="-0.467" upper="0.5515" velocity="7"/>
    <controller_gains Kd="0.0" Ki="0.0" Kp="0.0"/>
    <dynamics damping="0.1" friction="0.0"/>
  </joint>
  <gazebo reference="leftHipRoll">
    <provideFeedback>1</provideFeedback>
    <implicitSpringDamper>1</implicitSpringDamper>
  </gazebo>
  <joint name="leftHipPitch" type="revolute">
    <origin rpy="0.0 0.0 0.0" xyz="0.0 0.0 -0.0609"/>
    <axis xyz="0 1 0"/>
    <parent link="leftHipRollLink"/>
    <child link="leftHipPitchLink"/>
    <limit effort="350" lower="-2.42" upper="1.619" velocity="6.11"/>
    <controller_gains Kd="0.0" Ki="0.0" Kp="0.0"/>
    <dynamics damping="0.1" friction="0.0"/>
  </joint>
  <gazebo reference="leftHipPitch">
    <provideFeedback>1</provideFeedback>
    <implicitSpringDamper>1</implicitSpringDamper>
  </gazebo>
  <joint name="leftKneePitch" type="revolute">
    <origin rpy="0.0 0.0 0.0" xyz="0.000112225 0.0361046 -0.430959"/>
    <axis xyz="0 1 0"/>
    <parent link="leftHipPitchLink"/>
    <child link="leftKneePitchLink"/>
    <limit effort="350" lower="-0.083" upper="2.057" velocity="6.11"/>
    <controller_gains Kd="0.0" Ki="0.0" Kp="0.0"/>
    <dynamics damping="0.1" friction="0.0"/>
  </joint>
  <gazebo reference="leftKneePitch">
    <provideFeedback>1</provideFeedback>
    <implicitSpringDamper>1</implicitSpringDamper>
  </gazebo>
  <joint name="leftAnklePitch" type="revolute">
    <origin rpy="0.0 0.0 0.0" xyz="-0.0102381 0.0 -0.40627"/>
    <axis xyz="0 1 0"/>
    <parent link="leftKneePitchLink"/>
    <child link="leftAnklePitchLink"/>
    <limit effort="205" lower="-0.8644" upper="0.875" velocity="11"/>
    <controller_gains Kd="0.0" Ki="0.0" Kp="0.0"/>
    <dynamics damping="0.1" friction="0.0"/>
  </joint>
  <gazebo reference="leftAnklePitch">
    <provideFeedback>1</provideFeedback>
    <implicitSpringDamper>1</implicitSpringDamper>
  </gazebo>
  <joint name="leftAnkleRoll" type="revolute">
    <origin rpy="0.0 0.0 0.0" xyz="0.0 0.0 0.0"/>
    <axis xyz="1 0 0"/>
    <parent link="leftAnklePitchLink"/>
    <child link="leftFoot"/>
    <limit effort="205" lower="-0.349" upper="0.348" velocity="11"/>
    <controller_gains Kd="0.0" Ki="0.0" Kp="0.0"/>
    <dynamics damping="0.3" friction="0.0"/>
  </joint>
  <gazebo reference="leftAnkleRoll">
    <provideFeedback>1</provideFeedback>
    <implicitSpringDamper>1</implicitSpringDamper>
  </gazebo>
  <link name="pelvisRearImu_Frame">
    <!-- Virtual Link -->
    <inertial>
      <mass value="1e-07"/>
      <origin rpy="0 0 0" xyz="0 0 0"/>
      <inertia ixx="3.33333333333e-22" ixy="0.0" ixz="0.0" iyy="3.33333333333e-22" iyz="0.0" izz="5e-22"/>
    </inertial>
  </link>
  <joint name="pelvisRearImu_Offset" type="fixed">
    <origin rpy="-3.14159 0.476467 -3.14159" xyz="-0.075844901 0.0 -0.111056426"/>
    <axis xyz="0 0 1"/>
    <parent link="pelvis"/>
    <child link="pelvisRearImu_Frame"/>
  </joint>
  <gazebo reference="pelvisRearImu_Offset">
    <implicitSpringDamper>1</implicitSpringDamper>
  </gazebo>
  <gazebo>
    <plugin filename="libgazebo_ros_imu.so" name="imu_plugin_ros">
      <alwaysOn>true</alwaysOn>
      <bodyName>pelvisRearImu_Frame</bodyName>
      <topicName>pelvisRearImu/imu</topicName>
      <serviceName>pelvisRearImu/imu_service</serviceName>
      <gaussianNoise>0.0</gaussianNoise>
      <updateRate>1000.0</updateRate>
    </plugin>
  </gazebo>
  <gazebo reference="pelvisRearImu_Frame">
    <sensor name="pelvisRearImu" type="imu">
      <always_on>true</always_on>
      <pose>0 0 0 0 0 0 </pose>
      <node name="/sensors/rearPelvisIMU"/>
      <api name="val_imu_gazebo_interface/ImuGazeboInterface"/>
      <port name="none"/>
      <imu>
        <noise>
          <type>gaussian</type>
          <rate>
            <mean>0</mean>
            <stddev>0.0002</stddev>
            <bias_mean>7.5e-06</bias_mean>
            <bias_stddev>8e-07</bias_stddev>
          </rate>
          <accel>
            <mean>0</mean>
            <stddev>0.017</stddev>
            <bias_mean>0.1</bias_mean>
            <bias_stddev>0.001</bias_stddev>
          </accel>
        </noise>
      </imu>
    </sensor>
  </gazebo>
  <link name="pelvisMiddleImu_Frame">
    <!-- Virtual Link -->
    <inertial>
      <mass value="1e-07"/>
      <origin rpy="0 0 0" xyz="0 0 0"/>
      <inertia ixx="3.33333333333e-22" ixy="0.0" ixz="0.0" iyy="3.33333333333e-22" iyz="0.0" izz="5e-22"/>
    </inertial>
  </link>
  <joint name="pelvisMiddleImu_Offset" type="fixed">
    <origin rpy="3.14159 0.0 0.0" xyz="0.0 0.0 -0.10819638"/>
    <axis xyz="0 0 1"/>
    <parent link="pelvis"/>
    <child link="pelvisMiddleImu_Frame"/>
  </joint>
  <gazebo reference="pelvisMiddleImu_Offset">
    <implicitSpringDamper>1</implicitSpringDamper>
  </gazebo>
  <gazebo>
    <plugin filename="libgazebo_ros_imu.so" name="imu_plugin_ros">
      <alwaysOn>true</alwaysOn>
      <bodyName>pelvisMiddleImu_Frame</bodyName>
      <topicName>pelvisMiddleImu/imu</topicName>
      <serviceName>pelvisMiddleImu/imu_service</serviceName>
      <gaussianNoise>0.0</gaussianNoise>
      <updateRate>1000.0</updateRate>
    </plugin>
  </gazebo>
  <gazebo reference="pelvisMiddleImu_Frame">
    <sensor name="pelvisMiddleImu" type="imu">
      <always_on>true</always_on>
      <pose>0 0 0 0 0 0 </pose>
      <node name="/sensors/middlePelvisIMU"/>
      <api name="val_imu_gazebo_interface/ImuGazeboInterface"/>
      <port name="none"/>
      <imu>
        <noise>
          <type>gaussian</type>
          <rate>
            <mean>0</mean>
            <stddev>0.0002</stddev>
            <bias_mean>7.5e-06</bias_mean>
            <bias_stddev>8e-07</bias_stddev>
          </rate>
          <accel>
            <mean>0</mean>
            <stddev>0.017</stddev>
            <bias_mean>0.1</bias_mean>
            <bias_stddev>0.001</bias_stddev>
          </accel>
        </noise>
      </imu>
    </sensor>
  </gazebo>
  <link name="leftCOP_Frame">
    <inertial>
      <mass value="0.1"/>
      <origin rpy="0 0 0" xyz="0 0 0"/>
      <inertia ixx="8.33333333333e-05" ixy="0.0" ixz="0.0" iyy="8.33333333333e-05" iyz="0.0" izz="0.000125"/>
    </inertial>
  </link>
  <joint name="leftCOP_Offset" type="fixed">
    <origin rpy="0.0 0.0 0.0" xyz="0.0189 0.0 -0.0783"/>
    <axis xyz="0 0 1"/>
    <parent link="leftFoot"/>
    <child link="leftCOP_Frame"/>
  </joint>
  <gazebo reference="leftCOP_Offset">
    <implicitSpringDamper>1</implicitSpringDamper>
  </gazebo>
  <gazebo reference="leftAnkleRoll">
  </gazebo>
  <link name="rightCOP_Frame">
    <inertial>
      <mass value="0.1"/>
      <origin rpy="0 0 0" xyz="0 0 0"/>
      <inertia ixx="8.33333333333e-05" ixy="0.0" ixz="0.0" iyy="8.33333333333e-05" iyz="0.0" izz="0.000125"/>
    </inertial>
  </link>
  <joint name="rightCOP_Offset" type="fixed">
    <origin rpy="0.0 0.0 0.0" xyz="0.0189 0.0 -0.0783"/>
    <axis xyz="0 0 1"/>
    <parent link="rightFoot"/>
    <child link="rightCOP_Frame"/>
  </joint>
  <gazebo reference="rightCOP_Offset">
    <implicitSpringDamper>1</implicitSpringDamper>
  </gazebo>
  <gazebo reference="rightAnkleRoll">
  </gazebo>
  <joint name="multisense_head_root_joint" type="fixed">
    <origin rpy="-3.14159 0.130899694 0.0" xyz="0.183585961 0.0 0.075353826"/>
    <axis xyz="0 0 1"/>
    <parent link="upperNeckPitchLink"/>
    <child link="head"/>
  </joint>
  <gazebo reference="multisense_head_root_joint">
    <implicitSpringDamper>1</implicitSpringDamper>
  </gazebo>
  <link name="leftTorsoImu_Frame">
    <!-- Virtual Link -->
    <inertial>
      <mass value="1e-07"/>
      <origin rpy="0 0 0" xyz="0 0 0"/>
      <inertia ixx="3.33333333333e-22" ixy="0.0" ixz="0.0" iyy="3.33333333333e-22" iyz="0.0" izz="5e-22"/>
    </inertial>
  </link>
  <joint name="leftTorsoImu_Offset" type="fixed">
    <origin rpy="-1.5707 0.0 0.0" xyz="-0.0627634 0.134239 0.3630676"/>
    <axis xyz="0 0 1"/>
    <parent link="torso"/>
    <child link="leftTorsoImu_Frame"/>
  </joint>
  <gazebo reference="leftTorsoImu_Offset">
    <implicitSpringDamper>1</implicitSpringDamper>
  </gazebo>
  <gazebo>
    <plugin filename="libgazebo_ros_imu.so" name="imu_plugin_ros">
      <alwaysOn>true</alwaysOn>
      <bodyName>leftTorsoImu_Frame</bodyName>
      <topicName>leftTorsoImu/imu</topicName>
      <serviceName>leftTorsoImu/imu_service</serviceName>
      <gaussianNoise>0.0</gaussianNoise>
      <updateRate>1000.0</updateRate>
    </plugin>
  </gazebo>
  <gazebo reference="leftTorsoImu_Frame">
    <sensor name="leftTorsoImu" type="imu">
      <always_on>true</always_on>
      <pose>0 0 0 0 0 0 </pose>
      <node name="/sensors/leftTorsoIMU"/>
      <api name="val_imu_gazebo_interface/ImuGazeboInterface"/>
      <port name="none"/>
      <imu>
        <noise>
          <type>gaussian</type>
          <rate>
            <mean>0</mean>
            <stddev>0.0002</stddev>
            <bias_mean>7.5e-06</bias_mean>
            <bias_stddev>8e-07</bias_stddev>
          </rate>
          <accel>
            <mean>0</mean>
            <stddev>0.017</stddev>
            <bias_mean>0.1</bias_mean>
            <bias_stddev>0.001</bias_stddev>
          </accel>
        </noise>
      </imu>
    </sensor>
  </gazebo>
  <link name="rightHazardCamera_Frame">
    <!-- Virtual Link -->
    <inertial>
      <mass value="1e-07"/>
      <origin rpy="0 0 0" xyz="0 0 0"/>
      <inertia ixx="3.33333333333e-22" ixy="0.0" ixz="0.0" iyy="3.33333333333e-22" iyz="0.0" izz="5e-22"/>
    </inertial>
  </link>
  <gazebo reference="rightHazardCamera_Frame">
    <sensor name="rightHazardCamera" type="camera">
      <camera>
        <image>
          <width>1280</width>
          <height>1024</height>
          <format>R8G8B8</format>
        </image>
        <horizontal_fov>1.378</horizontal_fov>
        <clip>
          <near>0.1</near>
          <far>100</far>
        </clip>
      </camera>
      <update_rate>60</update_rate>
    </sensor>
  </gazebo>
  <joint name="rightHazardCamera_Offset" type="fixed">
    <origin rpy="1.57 0.0 1.57" xyz="0.0345 -0.0406 0.1135"/>
    <axis xyz="0 0 1"/>
    <parent link="torso"/>
    <child link="rightHazardCamera_Frame"/>
  </joint>
  <gazebo reference="rightHazardCamera_Offset">
    <implicitSpringDamper>1</implicitSpringDamper>
  </gazebo>
  <link name="leftHazardCamera_Frame">
    <!-- Virtual Link -->
    <inertial>
      <mass value="1e-07"/>
      <origin rpy="0 0 0" xyz="0 0 0"/>
      <inertia ixx="3.33333333333e-22" ixy="0.0" ixz="0.0" iyy="3.33333333333e-22" iyz="0.0" izz="5e-22"/>
    </inertial>
  </link>
  <gazebo reference="leftHazardCamera_Frame">
    <sensor name="leftHazardCamera" type="camera">
      <camera>
        <image>
          <width>1280</width>
          <height>1024</height>
          <format>R8G8B8</format>
        </image>
        <horizontal_fov>1.378</horizontal_fov>
        <clip>
          <near>0.1</near>
          <far>100</far>
        </clip>
      </camera>
      <update_rate>60</update_rate>
    </sensor>
  </gazebo>
  <joint name="leftHazardCamera_Offset" type="fixed">
    <origin rpy="1.57 0.0 1.57" xyz="0.0345 0.0406 0.1135"/>
    <axis xyz="0 0 1"/>
    <parent link="torso"/>
    <child link="leftHazardCamera_Frame"/>
  </joint>
  <gazebo reference="leftHazardCamera_Offset">
    <implicitSpringDamper>1</implicitSpringDamper>
  </gazebo>
  <transmission name="torsoYawTransmission">
    <type>transmission_interface/SimpleTransmission</type>
    <joint name="torsoYaw">
      <hardwareInterface>EffortJointInterface</hardwareInterface>
    </joint>
    <actuator name="torsoYaw">
      <node name="/pelvis/waist"/>
      <mechanicalReduction>1</mechanicalReduction>
      <api name="robot_hardware_interface/TurbodriverSimAPI"/>
    </actuator>
  </transmission>
  <transmission name="torsoPitchTransmission">
    <type>transmission_interface/SimpleTransmission</type>
    <joint name="torsoPitch">
      <hardwareInterface>EffortJointInterface</hardwareInterface>
    </joint>
    <actuator name="waistPitchActuator">
      <node name="/trunk/pitch_actuator"/>
      <mechanicalReduction>1</mechanicalReduction>
      <api name="robot_hardware_interface/TurbodriverSimAPI"/>
    </actuator>
  </transmission>
  <transmission name="torsoRollTransmission">
    <type>transmission_interface/SimpleTransmission</type>
    <joint name="torsoRoll">
      <hardwareInterface>EffortJointInterface</hardwareInterface>
    </joint>
    <actuator name="waistRollActuator">
      <node name="/trunk/roll_actuator"/>
      <mechanicalReduction>1</mechanicalReduction>
      <api name="robot_hardware_interface/TurbodriverSimAPI"/>
    </actuator>
  </transmission>
  <transmission name="leftHipYawTransmission">
    <type>transmission_interface/SimpleTransmission</type>
    <joint name="leftHipYaw">
      <hardwareInterface>EffortJointInterface</hardwareInterface>
    </joint>
    <actuator name="leftHipYaw">
      <node name="/pelvis/left_leg_j1"/>
      <mechanicalReduction>1</mechanicalReduction>
      <api name="robot_hardware_interface/TurbodriverSimAPI"/>
    </actuator>
  </transmission>
  <transmission name="leftHipRollTransmission">
    <type>transmission_interface/SimpleTransmission</type>
    <joint name="leftHipRoll">
      <hardwareInterface>EffortJointInterface</hardwareInterface>
    </joint>
    <actuator name="leftHipRoll">
      <node name="/left_leg/j2"/>
      <mechanicalReduction>1</mechanicalReduction>
      <api name="robot_hardware_interface/TurbodriverSimAPI"/>
    </actuator>
  </transmission>
  <transmission name="leftHipPitchTransmission">
    <type>transmission_interface/SimpleTransmission</type>
    <joint name="leftHipPitch">
      <hardwareInterface>EffortJointInterface</hardwareInterface>
    </joint>
    <actuator name="leftHipPitch">
      <node name="/left_leg/j3"/>
      <mechanicalReduction>1</mechanicalReduction>
      <api name="robot_hardware_interface/TurbodriverSimAPI"/>
    </actuator>
  </transmission>
  <transmission name="leftKneePitchTransmission">
    <type>transmission_interface/SimpleTransmission</type>
    <joint name="leftKneePitch">
      <hardwareInterface>EffortJointInterface</hardwareInterface>
    </joint>
    <actuator name="leftKneePitch">
      <node name="/left_leg/j4"/>
      <mechanicalReduction>1</mechanicalReduction>
      <api name="robot_hardware_interface/TurbodriverSimAPI"/>
    </actuator>
  </transmission>
  <transmission name="leftAnklePitchTransmission">
    <type>transmission_interface/SimpleTransmission</type>
    <joint name="leftAnklePitch">
      <hardwareInterface>EffortJointInterface</hardwareInterface>
    </joint>
    <actuator name="leftAnklePitchActuator">
      <node name="/left_leg/ankle/pitch_actuator"/>
      <mechanicalReduction>1</mechanicalReduction>
      <api name="robot_hardware_interface/TurbodriverSimAPI"/>
    </actuator>
  </transmission>
  <transmission name="leftAnkleRollTransmission">
    <type>transmission_interface/SimpleTransmission</type>
    <joint name="leftAnkleRoll">
      <hardwareInterface>EffortJointInterface</hardwareInterface>
    </joint>
    <actuator name="leftAnkleRollActuator">
      <node name="/left_leg/ankle/roll_actuator"/>
      <mechanicalReduction>1</mechanicalReduction>
      <api name="robot_hardware_interface/TurbodriverSimAPI"/>
    </actuator>
  </transmission>
  <transmission name="rightHipYawTransmission">
    <type>transmission_interface/SimpleTransmission</type>
    <joint name="rightHipYaw">
      <hardwareInterface>EffortJointInterface</hardwareInterface>
    </joint>
    <actuator name="rightHipYaw">
      <node name="/pelvis/right_leg_j1"/>
      <mechanicalReduction>1</mechanicalReduction>
      <api name="robot_hardware_interface/TurbodriverSimAPI"/>
    </actuator>
  </transmission>
  <transmission name="rightHipRollTransmission">
    <type>transmission_interface/SimpleTransmission</type>
    <joint name="rightHipRoll">
      <hardwareInterface>EffortJointInterface</hardwareInterface>
    </joint>
    <actuator name="rightHipRoll">
      <node name="/right_leg/j2"/>
      <mechanicalReduction>1</mechanicalReduction>
      <api name="robot_hardware_interface/TurbodriverSimAPI"/>
    </actuator>
  </transmission>
  <transmission name="rightHipPitchTransmission">
    <type>transmission_interface/SimpleTransmission</type>
    <joint name="rightHipPitch">
      <hardwareInterface>EffortJointInterface</hardwareInterface>
    </joint>
    <actuator name="rightHipPitch">
      <node name="/right_leg/j3"/>
      <mechanicalReduction>1</mechanicalReduction>
      <api name="robot_hardware_interface/TurbodriverSimAPI"/>
    </actuator>
  </transmission>
  <transmission name="rightKneePitchTransmission">
    <type>transmission_interface/SimpleTransmission</type>
    <joint name="rightKneePitch">
      <hardwareInterface>EffortJointInterface</hardwareInterface>
    </joint>
    <actuator name="rightKneePitch">
      <node name="/right_leg/j4"/>
      <mechanicalReduction>1</mechanicalReduction>
      <api name="robot_hardware_interface/TurbodriverSimAPI"/>
    </actuator>
  </transmission>
  <transmission name="rightAnklePitchTransmission">
    <type>transmission_interface/SimpleTransmission</type>
    <joint name="rightAnklePitch">
      <hardwareInterface>EffortJointInterface</hardwareInterface>
    </joint>
    <actuator name="rightAnklePitchActuator">
      <node name="/right_leg/ankle/pitch_actuator"/>
      <mechanicalReduction>1</mechanicalReduction>
      <api name="robot_hardware_interface/TurbodriverSimAPI"/>
    </actuator>
  </transmission>
  <transmission name="rightAnkleRollTransmission">
    <type>transmission_interface/SimpleTransmission</type>
    <joint name="rightAnkleRoll">
      <hardwareInterface>EffortJointInterface</hardwareInterface>
    </joint>
    <actuator name="rightAnkleRollActuator">
      <node name="/right_leg/ankle/roll_actuator"/>
      <mechanicalReduction>1</mechanicalReduction>
      <api name="robot_hardware_interface/TurbodriverSimAPI"/>
    </actuator>
  </transmission>
  <transmission name="leftShoulderPitchTransmission">
    <type>transmission_interface/SimpleTransmission</type>
    <joint name="leftShoulderPitch">
      <hardwareInterface>EffortJointInterface</hardwareInterface>
    </joint>
    <actuator name="leftShoulderPitch">
      <node name="/trunk/left_arm_j1"/>
      <mechanicalReduction>1</mechanicalReduction>
      <api name="robot_hardware_interface/TurbodriverSimAPI"/>
    </actuator>
  </transmission>
  <transmission name="leftShoulderRollTransmission">
    <type>transmission_interface/SimpleTransmission</type>
    <joint name="leftShoulderRoll">
      <hardwareInterface>EffortJointInterface</hardwareInterface>
    </joint>
    <actuator name="leftShoulderRoll">
      <node name="/left_arm/j2"/>
      <mechanicalReduction>1</mechanicalReduction>
      <api name="robot_hardware_interface/TurbodriverSimAPI"/>
    </actuator>
  </transmission>
  <transmission name="leftShoulderYawTransmission">
    <type>transmission_interface/SimpleTransmission</type>
    <joint name="leftShoulderYaw">
      <hardwareInterface>EffortJointInterface</hardwareInterface>
    </joint>
    <actuator name="leftShoulderYaw">
      <node name="/left_arm/j3"/>
      <mechanicalReduction>1</mechanicalReduction>
      <api name="robot_hardware_interface/TurbodriverSimAPI"/>
    </actuator>
  </transmission>
  <transmission name="leftElbowPitchTransmission">
    <type>transmission_interface/SimpleTransmission</type>
    <joint name="leftElbowPitch">
      <hardwareInterface>EffortJointInterface</hardwareInterface>
    </joint>
    <actuator name="leftElbowPitch">
      <node name="/left_arm/j4"/>
      <mechanicalReduction>1</mechanicalReduction>
      <api name="robot_hardware_interface/TurbodriverSimAPI"/>
    </actuator>
  </transmission>
  <transmission name="leftForearmYawTransmission">
    <type>transmission_interface/SimpleTransmission</type>
    <joint name="leftForearmYaw">
      <hardwareInterface>PositionJointInterface</hardwareInterface>
    </joint>
    <actuator name="leftForearmYaw">
      <node name="/left_arm/j5"/>
      <mechanicalReduction>1</mechanicalReduction>
      <api name="robot_hardware_interface/TurbodriverSimAPI"/>
    </actuator>
  </transmission>
  <transmission name="leftWristRollTransmission">
    <type>transmission_interface/SimpleTransmission</type>
    <joint name="leftWristRoll">
      <hardwareInterface>PositionJointInterface</hardwareInterface>
    </joint>
    <actuator name="leftWristRollActuator">
      <node name="/left_arm/wrist/roll_actautor"/>
      <mechanicalReduction>1</mechanicalReduction>
      <api name="robot_hardware_interface/TurbodriverSimAPI"/>
    </actuator>
  </transmission>
  <transmission name="leftWristPitchTransmission">
    <type>transmission_interface/SimpleTransmission</type>
    <joint name="leftWristPitch">
      <hardwareInterface>PositionJointInterface</hardwareInterface>
    </joint>
    <actuator name="leftWristPitchActuator">
      <node name="/left_arm/wrist/pitch_actuator"/>
      <mechanicalReduction>1</mechanicalReduction>
      <api name="robot_hardware_interface/TurbodriverSimAPI"/>
    </actuator>
  </transmission>
  <transmission name="rightShoulderPitchTransmission">
    <type>transmission_interface/SimpleTransmission</type>
    <joint name="rightShoulderPitch">
      <hardwareInterface>EffortJointInterface</hardwareInterface>
    </joint>
    <actuator name="rightShoulderPitch">
      <node name="/trunk/right_arm_j1"/>
      <mechanicalReduction>1</mechanicalReduction>
      <api name="robot_hardware_interface/TurbodriverSimAPI"/>
    </actuator>
  </transmission>
  <transmission name="rightShoulderRollTransmission">
    <type>transmission_interface/SimpleTransmission</type>
    <joint name="rightShoulderRoll">
      <hardwareInterface>EffortJointInterface</hardwareInterface>
    </joint>
    <actuator name="rightShoulderRoll">
      <node name="/right_arm/j2"/>
      <mechanicalReduction>1</mechanicalReduction>
      <api name="robot_hardware_interface/TurbodriverSimAPI"/>
    </actuator>
  </transmission>
  <transmission name="rightShoulderYawTransmission">
    <type>transmission_interface/SimpleTransmission</type>
    <joint name="rightShoulderYaw">
      <hardwareInterface>EffortJointInterface</hardwareInterface>
    </joint>
    <actuator name="rightShoulderYaw">
      <node name="/right_arm/j3"/>
      <mechanicalReduction>1</mechanicalReduction>
      <api name="robot_hardware_interface/TurbodriverSimAPI"/>
    </actuator>
  </transmission>
  <transmission name="rightElbowPitchTransmission">
    <type>transmission_interface/SimpleTransmission</type>
    <joint name="rightElbowPitch">
      <hardwareInterface>EffortJointInterface</hardwareInterface>
    </joint>
    <actuator name="rightElbowPitch">
      <node name="/right_arm/j4"/>
      <mechanicalReduction>1</mechanicalReduction>
      <api name="robot_hardware_interface/TurbodriverSimAPI"/>
    </actuator>
  </transmission>
  <transmission name="rightForearmYawTransmission">
    <type>transmission_interface/SimpleTransmission</type>
    <joint name="rightForearmYaw">
      <hardwareInterface>PositionJointInterface</hardwareInterface>
    </joint>
    <actuator name="rightForearmYaw">
      <node name="/right_arm/j5"/>
      <mechanicalReduction>1</mechanicalReduction>
      <api name="robot_hardware_interface/TurbodriverSimAPI"/>
    </actuator>
  </transmission>
  <transmission name="rightWristRollTransmission">
    <type>transmission_interface/SimpleTransmission</type>
    <joint name="rightWristRoll">
      <hardwareInterface>PositionJointInterface</hardwareInterface>
    </joint>
    <actuator name="rightWristRollActuator">
      <node name="/right_arm/wrist/roll_actautor"/>
      <mechanicalReduction>1</mechanicalReduction>
      <api name="robot_hardware_interface/TurbodriverSimAPI"/>
    </actuator>
  </transmission>
  <transmission name="rightWristPitchTransmission">
    <type>transmission_interface/SimpleTransmission</type>
    <joint name="rightWristPitch">
      <hardwareInterface>PositionJointInterface</hardwareInterface>
    </joint>
    <actuator name="rightWristPitchActuator">
      <node name="/right_arm/wrist/pitch_actuator"/>
      <mechanicalReduction>1</mechanicalReduction>
      <api name="robot_hardware_interface/TurbodriverSimAPI"/>
    </actuator>
  </transmission>
  <transmission name="lowerNeckPitchTransmission">
    <type>transmission_interface/SimpleTransmission</type>
    <joint name="lowerNeckPitch">
      <hardwareInterface>PositionJointInterface</hardwareInterface>
    </joint>
    <actuator name="lowerNeckPitch">
      <node name="/neck/j1"/>
      <mechanicalReduction>1</mechanicalReduction>
      <api name="robot_hardware_interface/TurbodriverSimAPI"/>
    </actuator>
  </transmission>
  <transmission name="neckYawTransmission">
    <type>transmission_interface/SimpleTransmission</type>
    <joint name="neckYaw">
      <hardwareInterface>PositionJointInterface</hardwareInterface>
    </joint>
    <actuator name="neckYaw">
      <node name="/neck/j2"/>
      <mechanicalReduction>1</mechanicalReduction>
      <api name="robot_hardware_interface/TurbodriverSimAPI"/>
    </actuator>
  </transmission>
  <transmission name="upperNeckPitchTransmission">
    <type>transmission_interface/SimpleTransmission</type>
    <joint name="upperNeckPitch">
      <hardwareInterface>PositionJointInterface</hardwareInterface>
    </joint>
    <actuator name="upperNeckPitch">
      <node name="/neck/j3"/>
      <mechanicalReduction>1</mechanicalReduction>
      <api name="robot_hardware_interface/TurbodriverSimAPI"/>
    </actuator>
  </transmission>
  <!-- Head Link Simple Collision Meshes -->
  <link name="head">
    <inertial>
      <origin rpy="0 0 0" xyz="-0.075493 3.3383E-05 0.02774"/>
      <mass value="1.41984"/>
      <inertia ixx="0.0039688" ixy="-1.5797E-06" ixz="-0.00089293" iyy="0.0041178" iyz="-6.8415E-07" izz="0.0035243"/>
    </inertial>
    <!--     <visual>
      <origin xyz="0 0 0" rpy="0 0 0" />
      <geometry>
        <mesh filename="model/meshes/multisense/head.dae" />
      </geometry>
      <material name="">
        <color rgba="0.9098 0.44314 0.031373 1" />
      </material>
    </visual> -->
    <collision>
      <origin rpy="0 0 0" xyz="-0.0503 0 -0.00195"/>
      <geometry>
        <box size="0.1311 0.12 0.0591"/>
      </geometry>
    </collision>
    <collision>
      <origin rpy="0 0 0" xyz="-0.093 0 0.0868"/>
      <geometry>
        <box size="0.0468 0.12 0.1184"/>
      </geometry>
    </collision>
  </link>
  <link name="hokuyo_link">
    <inertial>
      <origin rpy="0 0 0" xyz="0.032428 0.0004084 -0.0041835"/>
      <mass value="0.057654"/>
      <inertia ixx="3.7174E-05" ixy="4.9927E-08" ixz="1.1015E-05" iyy="4.2412E-05" iyz="-9.8165E-09" izz="4.167E-05"/>
    </inertial>
    <visual>
      <!--origin xyz="0.065774 -0.001163 -0.08809" rpy="0 0 0" /-->
      <!--origin xyz="0.045 -0.001163 -0.08809" rpy="-0.314 0 0" /-->
      <origin rpy="-0.314 0 0" xyz="0.045 -0.0261018277 -0.08342369"/>
      <geometry>
        <mesh filename="model/meshes/multisense/head_camera.dae"/>
      </geometry>
      <material name="">
        <color rgba="0.72941 0.35686 0.023529 1"/>
      </material>
    </visual>
    <collision>
      <origin rpy="0 0 0" xyz="0.01885 0 -0.02119"/>
      <geometry>
        <box size="0.08 0.06 0.04238"/>
      </geometry>
    </collision>
    <collision>
      <origin rpy="0 0 0" xyz="0.03 0 0.0235"/>
      <geometry>
        <cylinder length="0.047" radius="0.024425"/>
      </geometry>
    </collision>
  </link>
  <gazebo reference="head">
    <mu1>0.9</mu1>
    <mu2>0.9</mu2>
  </gazebo>
  <gazebo reference="hokuyo_link">
    <mu1>0.9</mu1>
    <mu2>0.9</mu2>
  </gazebo>
  <joint name="hokuyo_joint" type="continuous">
    <origin rpy="0 0 0" xyz="-0.0446 0 0.0880"/>
    <parent link="head"/>
    <child link="hokuyo_link"/>
    <axis xyz="1 0 0"/>
    <dynamics damping="0.01" friction="0"/>
  </joint>
  <gazebo reference="hokuyo_joint">
    <implicitSpringDamper>1</implicitSpringDamper>
  </gazebo>
  <!-- Hokuyo Laser -->
  <joint name="head_hokuyo_joint" type="fixed">
    <axis xyz="0 1 0"/>
    <origin rpy="0 0 0" xyz="0.03 0 0.015"/>
    <parent link="hokuyo_link"/>
    <child link="head_hokuyo_frame"/>
  </joint>
  <link name="head_hokuyo_frame">
    <inertial>
      <mass value="1e-5"/>
      <!-- collocate with parent link and remove mass from it -->
      <origin rpy="0 0 0" xyz="0.042428 0.0004084 0.0108165"/>
      <inertia ixx="1e-6" ixy="0" ixz="0" iyy="1e-6" iyz="0" izz="1e-6"/>
    </inertial>
  </link>
  <gazebo reference="head_hokuyo_frame">
    <sensor name="head_hokuyo_sensor" type="gpu_ray">
      <pose>0 0 0 0 0 0</pose>
      <visualize>false</visualize>
      <update_rate>40</update_rate>
      <ray>
        <scan>
          <horizontal>
            <samples>1081</samples>
            <resolution>1</resolution>
            <min_angle>-2.356194</min_angle>
            <max_angle>2.356194</max_angle>
          </horizontal>
        </scan>
        <range>
          <min>0.10</min>
          <max>30.0</max>
          <resolution>0.01</resolution>
        </range>
        <noise>
          <type>gaussian</type>
          <!-- Noise parameters based on published spec for Hokuyo laser
               achieving "+-30mm" accuracy at range < 10m.  A mean of 0.0m and
               stddev of 0.01m will put 99.7% of samples within 0.03m of the true
               reading. -->
          <mean>0.0</mean>
          <stddev>0.01</stddev>
        </noise>
      </ray>
    </sensor>
  </gazebo>
  <!-- Stereo Camera -->
  <joint name="left_camera_frame_joint" type="fixed">
    <!-- optical frame collocated with tilting DOF -->
    <origin xyz="0.0 0.035 -0.002"/>
    <parent link="head"/>
    <child link="left_camera_frame"/>
  </joint>
  <link name="left_camera_frame">
    <inertial>
      <mass value="1e-5"/>
      <!-- collocate with parent link and remove mass from it -->
      <origin xyz="-0.075493 0.035033383 0.02574"/>
      <inertia ixx="1e-6" ixy="0" ixz="0" iyy="1e-6" iyz="0" izz="1e-6"/>
    </inertial>
  </link>
  <joint name="left_camera_optical_frame_joint" type="fixed">
    <origin rpy="-1.5708 0.0 -1.5708" xyz="0 0 0"/>
    <parent link="left_camera_frame"/>
    <child link="left_camera_optical_frame"/>
  </joint>
  <link name="left_camera_optical_frame"/>
  <gazebo reference="left_camera_frame">
    <sensor name="stereo_camera" type="multicamera">
      <!-- see MultiSenseSLPlugin.h for available modes -->
      <update_rate>10.0</update_rate>
      <camera name="left">
        <!-- Spec sheet says 80deg X 45deg @ 1024x544pix.  Based on feedback
             from teams, we're instead doing 80deg X 80deg @ 800x800pix. -->
        <horizontal_fov>1.3962634</horizontal_fov>
        <image>
          <width>1024</width>
          <height>544</height>
          <format>R8G8B8</format>
        </image>
        <clip>
          <near>0.02</near>
          <far>300</far>
        </clip>
        <noise>
          <type>gaussian</type>
          <!-- Noise is sampled independently per pixel on each frame.  
               That pixel's noise value is added to each of its color
               channels, which at that point lie in the range [0,1].
               The stddev value of 0.007 is based on experimental data 
               from a camera in a Sandia hand pointed at a static scene
               in a couple of different lighting conditions.  -->
          <mean>0.0</mean>
          <stddev>0.007</stddev>
        </noise>
      </camera>
      <camera name="right">
        <pose>0 -0.07 0 0 0 0</pose>
        <!-- Spec sheet says 80deg X 45deg @ 1024x544pix. -->
        <horizontal_fov>1.3962634</horizontal_fov>
        <image>
          <width>1024</width>
          <height>544</height>
          <format>R8G8B8</format>
        </image>
        <clip>
          <near>0.02</near>
          <far>300</far>
        </clip>
        <noise>
          <type>gaussian</type>
          <!-- Noise is sampled independently per pixel on each frame.  
               That pixel's noise value is added to each of its color
               channels, which at that point lie in the range [0,1].
               The stddev value of 0.007 is based on experimental data 
               from a camera in a Sandia hand pointed at a static scene
               in a couple of different lighting conditions.  -->
          <mean>0.0</mean>
          <stddev>0.007</stddev>
        </noise>
      </camera>
    </sensor>
  </gazebo>
  <joint name="right_camera_frame_joint" type="fixed">
    <origin xyz="0.0 -0.035 -0.002"/>
    <parent link="head"/>
    <child link="right_camera_frame"/>
  </joint>
  <link name="right_camera_frame">
    <inertial>
      <mass value="1e-5"/>
      <!-- collocate with parent link and remove mass from it -->
      <origin xyz="-0.075493 -0.034966617 0.02574"/>
      <inertia ixx="1e-6" ixy="0" ixz="0" iyy="1e-6" iyz="0" izz="1e-6"/>
    </inertial>
  </link>
  <joint name="right_camera_optical_frame_joint" type="fixed">
    <origin rpy="-1.5708 0.0 -1.5708" xyz="0 0 0"/>
    <parent link="right_camera_frame"/>
    <child link="right_camera_optical_frame"/>
  </joint>
  <link name="right_camera_optical_frame"/>
  <joint name="center_top_led_frame_joint" type="fixed">
    <origin xyz="0.01125 0.0 0.0105"/>
    <parent link="head"/>
    <child link="center_top_led_frame"/>
  </joint>
  <link name="center_top_led_frame">
    <inertial>
      <mass value="1e-5"/>
      <!-- collocate with parent link and remove mass from it -->
      <origin rpy="0 0 0" xyz="-0.064243 0.000033383 0.03824"/>
      <inertia ixx="1e-6" ixy="0" ixz="0" iyy="1e-6" iyz="0" izz="1e-6"/>
    </inertial>
  </link>
  <joint name="center_bottom_led_frame_joint" type="fixed">
    <origin xyz="0.01125 0.0 -0.0155"/>
    <parent link="head"/>
    <child link="center_bottom_led_frame"/>
  </joint>
  <link name="center_bottom_led_frame">
    <inertial>
      <mass value="1e-5"/>
      <!-- collocate with parent link and remove mass from it -->
      <origin rpy="0 0 0" xyz="-0.064243 0.000033383 0.01224"/>
      <inertia ixx="1e-6" ixy="0" ixz="0" iyy="1e-6" iyz="0" izz="1e-6"/>
    </inertial>
  </link>
  <joint name="left_led_frame_joint" type="fixed">
    <origin rpy="0 -0.15 0.53" xyz="-0.01443 0.07452 0.050346"/>
    <parent link="head"/>
    <child link="left_led_frame"/>
  </joint>
  <link name="left_led_frame">
    <inertial>
      <mass value="1e-5"/>
      <!-- collocate with parent link and remove mass from it -->
      <origin rpy="0 -0.15 0.53" xyz="-0.089923 0.074553383 0.078086"/>
      <inertia ixx="1e-6" ixy="0" ixz="0" iyy="1e-6" iyz="0" izz="1e-6"/>
    </inertial>
  </link>
  <joint name="right_led_frame_joint" type="fixed">
    <origin rpy="0 -0.15 -0.53" xyz="-0.01443 -0.07452 0.050346"/>
    <parent link="head"/>
    <child link="right_led_frame"/>
  </joint>
  <link name="right_led_frame">
    <inertial>
      <mass value="1e-5"/>
      <!-- collocate with parent link and remove mass from it -->
      <origin rpy="0 -0.15 -0.53" xyz="-0.089923 -0.074486617 0.07908"/>
      <inertia ixx="1e-6" ixy="0" ixz="0" iyy="1e-6" iyz="0" izz="1e-6"/>
    </inertial>
  </link>
  <!-- imu link -->
  <link name="head_imu_link">
    <inertial>
      <mass value="1e-5"/>
      <!-- collocate with parent link and remove mass from it -->
      <origin rpy="0 0 0" xyz="-0.122993 0.035033383 0.02774"/>
      <inertia ixx="1e-6" ixy="0" ixz="0" iyy="1e-6" iyz="0" izz="1e-6"/>
    </inertial>
    <visual>
      <origin rpy="0 0 0" xyz="0 0 0"/>
      <geometry>
        <box size="0.01 0.01 0.01"/>
      </geometry>
    </visual>
  </link>
  <joint name="head_imu_joint" type="fixed">
    <parent link="head"/>
    <child link="head_imu_link"/>
    <!-- putting it at the same z-level as the stereo -->
    <origin rpy="0 0 0" xyz="-0.0475 0.035 0.0"/>
  </joint>
  <gazebo reference="head_imu_link">
    <!-- this is expected to be reparented to head with appropriate offset
         when head_imu_link is reduced by fixed joint reduction -->
    <!-- todo: this is working with gazebo 1.4, need to write a unit test -->
    <sensor name="head_imu_sensor" type="imu">
      <always_on>1</always_on>
      <update_rate>1000.0</update_rate>
      <imu>
        <noise>
          <type>gaussian</type>
          <!-- Noise parameters from Boston Dynamics
               (http://gazebosim.org/wiki/Sensor_noise):
                 rates (rad/s): mean=0, stddev=2e-4
                 accels (m/s/s): mean=0, stddev=1.7e-2
                 rate bias (rad/s): 5e-6 - 1e-5
                 accel bias (m/s/s): 1e-1
               Experimentally, simulation provide rates with noise of
               about 1e-3 rad/s and accels with noise of about 1e-1 m/s/s.
               So we don't expect to see the noise unless number of inner iterations
               are increased.

               We will add bias.  In this model, bias is sampled once for rates
               and once for accels at startup; the sign (negative or positive)
               of each bias is then switched with equal probability.  Thereafter,
               the biases are fixed additive offsets.  We choose
               bias means and stddevs to produce biases close to the provided
               data. -->
          <rate>
            <mean>0.0</mean>
            <stddev>2e-4</stddev>
            <bias_mean>0.0000075</bias_mean>
            <bias_stddev>0.0000008</bias_stddev>
          </rate>
          <accel>
            <mean>0.0</mean>
            <stddev>1.7e-2</stddev>
            <bias_mean>0.1</bias_mean>
            <bias_stddev>0.001</bias_stddev>
          </accel>
        </noise>
      </imu>
    </sensor>
  </gazebo>
  <!-- drake feet mods-->
  <frame link="leftFoot" name="l_foot_sole" rpy="0 0 0" xyz="0.067  0 -0.09"/>
  <frame link="rightFoot" name="r_foot_sole" rpy="0 0 0" xyz="0.067 0 -0.09"/>
  <frame link="leftFoot" name="l_foot_toe" rpy="0 0 0" xyz="0.172  0 -0.09"/>
  <frame link="rightFoot" name="r_foot_toe" rpy="0 0 0" xyz="0.172 0 -0.09"/>
  <!-- end drake feet mods-->
  <!-- drake left hand frames-->
  <link name="l_hand_force_torque">
    <inertial>
      <mass value="0.001"/>
      <origin xyz="0 0 0"/>
      <inertia ixx="0.00001" ixy="0" ixz="0" iyy="0.00001" iyz="0" izz="0.00001"/>
    </inertial>
    <visual>
      <origin rpy="0 0 0" xyz="0 0 0"/>
      <geometry>
        <box size="0.01 0.01 0.01"/>
      </geometry>
    </visual>
  </link>
  <joint name="l_hand_force_torque_joint" type="fixed">
    <origin rpy="-1.57079632679 0 1.57079632679" xyz="0 0 0"/>
    <parent link="leftPalm"/>
    <child link="l_hand_force_torque"/>
  </joint>
  <link name="left_palm">
    <inertial>
      <mass value="0.001"/>
      <origin xyz="0 0 0"/>
      <inertia ixx="0.00001" ixy="0" ixz="0" iyy="0.00001" iyz="0" izz="0.00001"/>
    </inertial>
    <visual>
      <origin rpy="0 0 0" xyz="0 0 0"/>
      <geometry>
        <box size="0.01 0.01 0.01"/>
      </geometry>
    </visual>
  </link>
  <joint name="left_valkyrie_hand_joint" type="fixed">
    <origin rpy="1.57079632679 1.57079632679 0" xyz="0.08 0 0"/>
    <parent link="l_hand_force_torque"/>
    <child link="left_palm"/>
  </joint>
  <link name="l_hand_face">
    <inertial>
      <mass value="0.001"/>
      <origin xyz="0 0 0"/>
      <inertia ixx="0.00001" ixy="0" ixz="0" iyy="0.00001" iyz="0" izz="0.00001"/>
    </inertial>
  </link>
  <joint name="l_hand_face_joint" type="fixed">
    <origin rpy="3.14159265359 0 1.57079632679" xyz="0.07 0.0 -0.08"/>
    <parent link="l_hand_force_torque"/>
    <child link="l_hand_face"/>
  </joint>
  <!-- end drake left hand frames-->
  <!-- drake right hand frames-->
  <link name="r_hand_force_torque">
    <inertial>
      <mass value="0.001"/>
      <origin xyz="0 0 0"/>
      <inertia ixx="0.00001" ixy="0" ixz="0" iyy="0.00001" iyz="0" izz="0.00001"/>
    </inertial>
    <visual>
      <origin rpy="0 0 0" xyz="0 0 0"/>
      <geometry>
        <box size="0.01 0.01 0.01"/>
      </geometry>
    </visual>
  </link>
  <joint name="r_hand_force_torque_joint" type="fixed">
    <origin rpy="-1.57079632679 0 -1.57079632679" xyz="0 0 0"/>
    <parent link="rightPalm"/>
    <child link="r_hand_force_torque"/>
  </joint>
  <link name="right_palm">
    <inertial>
      <mass value="0.001"/>
      <origin xyz="0 0 0"/>
      <inertia ixx="0.00001" ixy="0" ixz="0" iyy="0.00001" iyz="0" izz="0.00001"/>
    </inertial>
    <visual>
      <origin rpy="0 0 0" xyz="0 0 0"/>
      <geometry>
        <box size="0.01 0.01 0.01"/>
      </geometry>
    </visual>
  </link>
  <joint name="right_valkyrie_hand_joint" type="fixed">
    <origin rpy="0 -1.57079632679 -1.57079632679" xyz="0.08 0 0"/>
    <parent link="r_hand_force_torque"/>
    <child link="right_palm"/>
  </joint>
  <link name="r_hand_face">
    <inertial>
      <mass value="0.001"/>
      <origin xyz="0 0 0"/>
      <inertia ixx="0.00001" ixy="0" ixz="0" iyy="0.00001" iyz="0" izz="0.00001"/>
    </inertial>
  </link>
  <joint name="r_hand_face_joint" type="fixed">
    <origin rpy="0 0 -1.57079632679" xyz="0.07 0 0.08"/>
    <parent link="r_hand_force_torque"/>
    <child link="r_hand_face"/>
  </joint>
  <!-- end drake right hand frames-->
  <!-- drake collision free groups-->
  <collision_filter_group name="feet">
    <member link="leftFoot"/>
    <member link="rightFoot"/>
    <ignored_collision_filter_group collision_filter_group="feet"/>
  </collision_filter_group>
  <collision_filter_group name="core">
    <member link="torso"/>
    <member link="torsoYawLink"/>
    <member link="torsoPitchLink"/>
    <member link="pelvis"/>
    <member link="lowerNeckPitchLink"/>
    <member link="neckYawLink"/>
    <member link="upperNeckPitchLink"/>
    <member link="head"/>
    <ignored_collision_filter_group collision_filter_group="core"/>
  </collision_filter_group>
  <collision_filter_group name="ignore_core">
    <member link="rightShoulderRollLink"/>
    <member link="leftShoulderRollLink"/>
    <member link="rightShoulderPitchLink"/>
    <member link="leftShoulderPitchLink"/>
    <ignored_collision_filter_group collision_filter_group="core"/>
  </collision_filter_group>
  <collision_filter_group name="r_uleg">
    <member link="rightHipYawLink"/>
    <member link="rightHipRollLink"/>
    <member link="rightHipPitchLink"/>
    <ignored_collision_filter_group collision_filter_group="core"/>
    <ignored_collision_filter_group collision_filter_group="r_uleg"/>
    <ignored_collision_filter_group collision_filter_group="l_uleg"/>
  </collision_filter_group>
  <collision_filter_group name="l_uleg">
    <member link="leftHipYawLink"/>
    <member link="leftHipRollLink"/>
    <member link="leftHipPitchLink"/>
    <ignored_collision_filter_group collision_filter_group="core"/>
    <ignored_collision_filter_group collision_filter_group="r_uleg"/>
    <ignored_collision_filter_group collision_filter_group="l_uleg"/>
  </collision_filter_group>
  <collision_filter_group name="r_leg">
    <member link="rightKneePitchLink"/>
    <member link="rightAnklePitchLink"/>
    <member link="rightFoot"/>
    <ignored_collision_filter_group collision_filter_group="r_leg"/>
    <ignored_collision_filter_group collision_filter_group="r_uleg"/>
  </collision_filter_group>
  <collision_filter_group name="l_leg">
    <member link="leftKneePitchLink"/>
    <member link="leftAnklePitchLink"/>
    <member link="leftFoot"/>
    <ignored_collision_filter_group collision_filter_group="l_leg"/>
    <ignored_collision_filter_group collision_filter_group="l_uleg"/>
  </collision_filter_group>
  <collision_filter_group name="r_arm">
    <member link="rightShoulderPitchLink"/>
    <member link="rightShoulderRollLink"/>
    <member link="rightShoulderYawLink"/>
    <member link="rightElbowPitchLink"/>
    <member link="rightForearmLink"/>
    <member link="rightWristRollLink"/>
    <member link="rightPalm"/>
    <ignored_collision_filter_group collision_filter_group="r_arm"/>
  </collision_filter_group>
  <collision_filter_group name="l_arm">
    <member link="leftShoulderPitchLink"/>
    <member link="leftShoulderRollLink"/>
    <member link="leftShoulderYawLink"/>
    <member link="leftElbowPitchLink"/>
    <member link="leftForearmLink"/>
    <member link="leftWristRollLink"/>
    <member link="leftPalm"/>
    <ignored_collision_filter_group collision_filter_group="l_arm"/>
  </collision_filter_group>
  <!-- end drake collision free groups-->
</robot>
